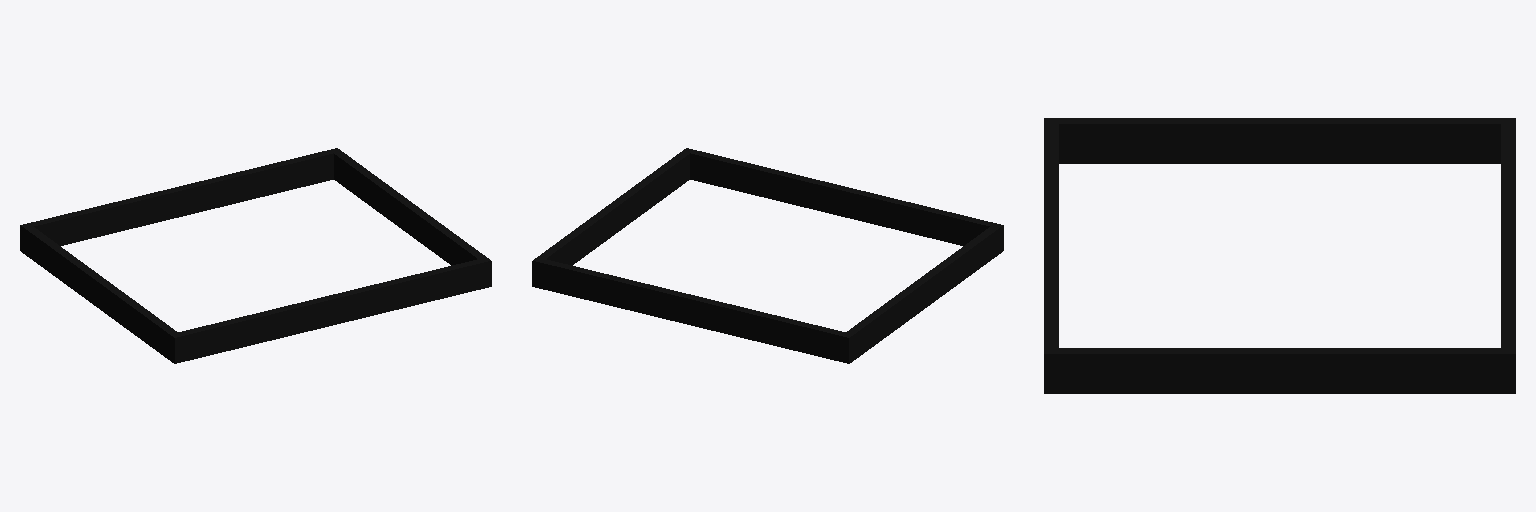
--- Facts derived from the render (not from the file) ---
Views: 3 orthographic renders of the robot side by side, from view 1: azimuth 30°, elevation 25°; view 2: azimuth 150°, elevation 25°; view 3: azimuth 270°, elevation 25°.
Robot: struct — 137 links, 136 joints (136 fixed); root link struct_base; default pose: every joint at zero.
Links seen in each view (by area): view 1: none; view 2: none; view 3: block_0_37, block_1_0, block_1_37, block_2_0, block_2_37, block_4_0, block_4_37, block_5_0, block_5_37, block_6_0, block_6_37, block_8_0 (+28 smaller).
Boxes of the visible links, <box> form: block_0_37: <box>1501,348,1515,393</box>; block_1_0: <box>1486,118,1500,163</box>; block_1_37: <box>1486,348,1500,393</box>; block_2_0: <box>1471,118,1485,163</box>; block_2_37: <box>1471,348,1485,393</box>; block_4_0: <box>1442,118,1456,163</box>; block_4_37: <box>1442,348,1456,393</box>; block_5_0: <box>1427,118,1441,163</box>; block_5_37: <box>1427,348,1441,393</box>; block_6_0: <box>1412,118,1426,163</box>; block_6_37: <box>1412,348,1426,393</box>; block_8_0: <box>1383,118,1397,163</box>.
Size in the robot's own frame: 38 by 32 by 3 metres.
Geometry: primitives only (box / cylinder / sphere), no mesh files.

robot.urdf — struct:
<?xml version="1.0" ?>
<robot name="struct">
  <link name="struct_base"/>

  <link name="block_0_0">
    <visual>
      <origin xyz="0 0 0"/>
      <geometry>
        <box size="1.0 1.0 3"/>
      </geometry>
      <material name="wall">
        <color rgba="0.1 0.1 0.1 1"/>
      </material>
    </visual>
    <inertial>
      <mass value="0"/> <!-- static -->
      <inertia ixx="0" iyy="0" izz="0" ixy="0" ixz="0" iyz="0"/>
    </inertial>

    <collision>
      <origin xyz="0 0 0"/>
      <geometry>
        <box size="1.0 1.0 3.0"/>
      </geometry>
    </collision>
</link>

  <joint name="joint_block_0_0" type="fixed">
    <parent link="struct_base"/>
    <child link="block_0_0"/>
    <origin xyz="-18.5 15.5 1.5" rpy="0 0 0"/>
  </joint>


  <link name="block_0_1">
    <visual>
      <origin xyz="0 0 0"/>
      <geometry>
        <box size="1.0 1.0 3"/>
      </geometry>
      <material name="wall">
        <color rgba="0.1 0.1 0.1 1"/>
      </material>
    </visual>
    <inertial>
      <mass value="0"/> <!-- static -->
      <inertia ixx="0" iyy="0" izz="0" ixy="0" ixz="0" iyz="0"/>
    </inertial>

    <collision>
      <origin xyz="0 0 0"/>
      <geometry>
        <box size="1.0 1.0 3.0"/>
      </geometry>
    </collision>
</link>

  <joint name="joint_block_0_1" type="fixed">
    <parent link="struct_base"/>
    <child link="block_0_1"/>
    <origin xyz="-17.5 15.5 1.5" rpy="0 0 0"/>
  </joint>


  <link name="block_0_2">
    <visual>
      <origin xyz="0 0 0"/>
      <geometry>
        <box size="1.0 1.0 3"/>
      </geometry>
      <material name="wall">
        <color rgba="0.1 0.1 0.1 1"/>
      </material>
    </visual>
    <inertial>
      <mass value="0"/> <!-- static -->
      <inertia ixx="0" iyy="0" izz="0" ixy="0" ixz="0" iyz="0"/>
    </inertial>

    <collision>
      <origin xyz="0 0 0"/>
      <geometry>
        <box size="1.0 1.0 3.0"/>
      </geometry>
    </collision>
</link>

  <joint name="joint_block_0_2" type="fixed">
    <parent link="struct_base"/>
    <child link="block_0_2"/>
    <origin xyz="-16.5 15.5 1.5" rpy="0 0 0"/>
  </joint>


  <link name="block_0_3">
    <visual>
      <origin xyz="0 0 0"/>
      <geometry>
        <box size="1.0 1.0 3"/>
      </geometry>
      <material name="wall">
        <color rgba="0.1 0.1 0.1 1"/>
      </material>
    </visual>
    <inertial>
      <mass value="0"/> <!-- static -->
      <inertia ixx="0" iyy="0" izz="0" ixy="0" ixz="0" iyz="0"/>
    </inertial>

    <collision>
      <origin xyz="0 0 0"/>
      <geometry>
        <box size="1.0 1.0 3.0"/>
      </geometry>
    </collision>
</link>

  <joint name="joint_block_0_3" type="fixed">
    <parent link="struct_base"/>
    <child link="block_0_3"/>
    <origin xyz="-15.5 15.5 1.5" rpy="0 0 0"/>
  </joint>


  <link name="block_0_4">
    <visual>
      <origin xyz="0 0 0"/>
      <geometry>
        <box size="1.0 1.0 3"/>
      </geometry>
      <material name="wall">
        <color rgba="0.1 0.1 0.1 1"/>
      </material>
    </visual>
    <inertial>
      <mass value="0"/> <!-- static -->
      <inertia ixx="0" iyy="0" izz="0" ixy="0" ixz="0" iyz="0"/>
    </inertial>

    <collision>
      <origin xyz="0 0 0"/>
      <geometry>
        <box size="1.0 1.0 3.0"/>
      </geometry>
    </collision>
</link>

  <joint name="joint_block_0_4" type="fixed">
    <parent link="struct_base"/>
    <child link="block_0_4"/>
    <origin xyz="-14.5 15.5 1.5" rpy="0 0 0"/>
  </joint>


  <link name="block_0_5">
    <visual>
      <origin xyz="0 0 0"/>
      <geometry>
        <box size="1.0 1.0 3"/>
      </geometry>
      <material name="wall">
        <color rgba="0.1 0.1 0.1 1"/>
      </material>
    </visual>
    <inertial>
      <mass value="0"/> <!-- static -->
      <inertia ixx="0" iyy="0" izz="0" ixy="0" ixz="0" iyz="0"/>
    </inertial>

    <collision>
      <origin xyz="0 0 0"/>
      <geometry>
        <box size="1.0 1.0 3.0"/>
      </geometry>
    </collision>
</link>

  <joint name="joint_block_0_5" type="fixed">
    <parent link="struct_base"/>
    <child link="block_0_5"/>
    <origin xyz="-13.5 15.5 1.5" rpy="0 0 0"/>
  </joint>


  <link name="block_0_6">
    <visual>
      <origin xyz="0 0 0"/>
      <geometry>
        <box size="1.0 1.0 3"/>
      </geometry>
      <material name="wall">
        <color rgba="0.1 0.1 0.1 1"/>
      </material>
    </visual>
    <inertial>
      <mass value="0"/> <!-- static -->
      <inertia ixx="0" iyy="0" izz="0" ixy="0" ixz="0" iyz="0"/>
    </inertial>

    <collision>
      <origin xyz="0 0 0"/>
      <geometry>
        <box size="1.0 1.0 3.0"/>
      </geometry>
    </collision>
</link>

  <joint name="joint_block_0_6" type="fixed">
    <parent link="struct_base"/>
    <child link="block_0_6"/>
    <origin xyz="-12.5 15.5 1.5" rpy="0 0 0"/>
  </joint>


  <link name="block_0_7">
    <visual>
      <origin xyz="0 0 0"/>
      <geometry>
        <box size="1.0 1.0 3"/>
      </geometry>
      <material name="wall">
        <color rgba="0.1 0.1 0.1 1"/>
      </material>
    </visual>
    <inertial>
      <mass value="0"/> <!-- static -->
      <inertia ixx="0" iyy="0" izz="0" ixy="0" ixz="0" iyz="0"/>
    </inertial>

    <collision>
      <origin xyz="0 0 0"/>
      <geometry>
        <box size="1.0 1.0 3.0"/>
      </geometry>
    </collision>
</link>

  <joint name="joint_block_0_7" type="fixed">
    <parent link="struct_base"/>
    <child link="block_0_7"/>
    <origin xyz="-11.5 15.5 1.5" rpy="0 0 0"/>
  </joint>


  <link name="block_0_8">
    <visual>
      <origin xyz="0 0 0"/>
      <geometry>
        <box size="1.0 1.0 3"/>
      </geometry>
      <material name="wall">
        <color rgba="0.1 0.1 0.1 1"/>
      </material>
    </visual>
    <inertial>
      <mass value="0"/> <!-- static -->
      <inertia ixx="0" iyy="0" izz="0" ixy="0" ixz="0" iyz="0"/>
    </inertial>

    <collision>
      <origin xyz="0 0 0"/>
      <geometry>
        <box size="1.0 1.0 3.0"/>
      </geometry>
    </collision>
</link>

  <joint name="joint_block_0_8" type="fixed">
    <parent link="struct_base"/>
    <child link="block_0_8"/>
    <origin xyz="-10.5 15.5 1.5" rpy="0 0 0"/>
  </joint>


  <link name="block_0_9">
    <visual>
      <origin xyz="0 0 0"/>
      <geometry>
        <box size="1.0 1.0 3"/>
      </geometry>
      <material name="wall">
        <color rgba="0.1 0.1 0.1 1"/>
      </material>
    </visual>
    <inertial>
      <mass value="0"/> <!-- static -->
      <inertia ixx="0" iyy="0" izz="0" ixy="0" ixz="0" iyz="0"/>
    </inertial>

    <collision>
      <origin xyz="0 0 0"/>
      <geometry>
        <box size="1.0 1.0 3.0"/>
      </geometry>
    </collision>
</link>

  <joint name="joint_block_0_9" type="fixed">
    <parent link="struct_base"/>
    <child link="block_0_9"/>
    <origin xyz="-9.5 15.5 1.5" rpy="0 0 0"/>
  </joint>


  <link name="block_0_10">
    <visual>
      <origin xyz="0 0 0"/>
      <geometry>
        <box size="1.0 1.0 3"/>
      </geometry>
      <material name="wall">
        <color rgba="0.1 0.1 0.1 1"/>
      </material>
    </visual>
    <inertial>
      <mass value="0"/> <!-- static -->
      <inertia ixx="0" iyy="0" izz="0" ixy="0" ixz="0" iyz="0"/>
    </inertial>

    <collision>
      <origin xyz="0 0 0"/>
      <geometry>
        <box size="1.0 1.0 3.0"/>
      </geometry>
    </collision>
</link>

  <joint name="joint_block_0_10" type="fixed">
    <parent link="struct_base"/>
    <child link="block_0_10"/>
    <origin xyz="-8.5 15.5 1.5" rpy="0 0 0"/>
  </joint>


  <link name="block_0_11">
    <visual>
      <origin xyz="0 0 0"/>
      <geometry>
        <box size="1.0 1.0 3"/>
      </geometry>
      <material name="wall">
        <color rgba="0.1 0.1 0.1 1"/>
      </material>
    </visual>
    <inertial>
      <mass value="0"/> <!-- static -->
      <inertia ixx="0" iyy="0" izz="0" ixy="0" ixz="0" iyz="0"/>
    </inertial>

    <collision>
      <origin xyz="0 0 0"/>
      <geometry>
        <box size="1.0 1.0 3.0"/>
      </geometry>
    </collision>
</link>

  <joint name="joint_block_0_11" type="fixed">
    <parent link="struct_base"/>
    <child link="block_0_11"/>
    <origin xyz="-7.5 15.5 1.5" rpy="0 0 0"/>
  </joint>


  <link name="block_0_12">
    <visual>
      <origin xyz="0 0 0"/>
      <geometry>
        <box size="1.0 1.0 3"/>
      </geometry>
      <material name="wall">
        <color rgba="0.1 0.1 0.1 1"/>
      </material>
    </visual>
    <inertial>
      <mass value="0"/> <!-- static -->
      <inertia ixx="0" iyy="0" izz="0" ixy="0" ixz="0" iyz="0"/>
    </inertial>

    <collision>
      <origin xyz="0 0 0"/>
      <geometry>
        <box size="1.0 1.0 3.0"/>
      </geometry>
    </collision>
</link>

  <joint name="joint_block_0_12" type="fixed">
    <parent link="struct_base"/>
    <child link="block_0_12"/>
    <origin xyz="-6.5 15.5 1.5" rpy="0 0 0"/>
  </joint>


  <link name="block_0_13">
    <visual>
      <origin xyz="0 0 0"/>
      <geometry>
        <box size="1.0 1.0 3"/>
      </geometry>
      <material name="wall">
        <color rgba="0.1 0.1 0.1 1"/>
      </material>
    </visual>
    <inertial>
      <mass value="0"/> <!-- static -->
      <inertia ixx="0" iyy="0" izz="0" ixy="0" ixz="0" iyz="0"/>
    </inertial>

    <collision>
      <origin xyz="0 0 0"/>
      <geometry>
        <box size="1.0 1.0 3.0"/>
      </geometry>
    </collision>
</link>

  <joint name="joint_block_0_13" type="fixed">
    <parent link="struct_base"/>
    <child link="block_0_13"/>
    <origin xyz="-5.5 15.5 1.5" rpy="0 0 0"/>
  </joint>


  <link name="block_0_14">
    <visual>
      <origin xyz="0 0 0"/>
      <geometry>
        <box size="1.0 1.0 3"/>
      </geometry>
      <material name="wall">
        <color rgba="0.1 0.1 0.1 1"/>
      </material>
    </visual>
    <inertial>
      <mass value="0"/> <!-- static -->
      <inertia ixx="0" iyy="0" izz="0" ixy="0" ixz="0" iyz="0"/>
    </inertial>

    <collision>
      <origin xyz="0 0 0"/>
      <geometry>
        <box size="1.0 1.0 3.0"/>
      </geometry>
    </collision>
</link>

  <joint name="joint_block_0_14" type="fixed">
    <parent link="struct_base"/>
    <child link="block_0_14"/>
    <origin xyz="-4.5 15.5 1.5" rpy="0 0 0"/>
  </joint>


  <link name="block_0_15">
    <visual>
      <origin xyz="0 0 0"/>
      <geometry>
        <box size="1.0 1.0 3"/>
      </geometry>
      <material name="wall">
        <color rgba="0.1 0.1 0.1 1"/>
      </material>
    </visual>
    <inertial>
      <mass value="0"/> <!-- static -->
      <inertia ixx="0" iyy="0" izz="0" ixy="0" ixz="0" iyz="0"/>
    </inertial>

    <collision>
      <origin xyz="0 0 0"/>
      <geometry>
        <box size="1.0 1.0 3.0"/>
      </geometry>
    </collision>
</link>

  <joint name="joint_block_0_15" type="fixed">
    <parent link="struct_base"/>
    <child link="block_0_15"/>
    <origin xyz="-3.5 15.5 1.5" rpy="0 0 0"/>
  </joint>


  <link name="block_0_16">
    <visual>
      <origin xyz="0 0 0"/>
      <geometry>
        <box size="1.0 1.0 3"/>
      </geometry>
      <material name="wall">
        <color rgba="0.1 0.1 0.1 1"/>
      </material>
    </visual>
    <inertial>
      <mass value="0"/> <!-- static -->
      <inertia ixx="0" iyy="0" izz="0" ixy="0" ixz="0" iyz="0"/>
    </inertial>

    <collision>
      <origin xyz="0 0 0"/>
      <geometry>
        <box size="1.0 1.0 3.0"/>
      </geometry>
    </collision>
</link>

  <joint name="joint_block_0_16" type="fixed">
    <parent link="struct_base"/>
    <child link="block_0_16"/>
    <origin xyz="-2.5 15.5 1.5" rpy="0 0 0"/>
  </joint>


  <link name="block_0_17">
    <visual>
      <origin xyz="0 0 0"/>
      <geometry>
        <box size="1.0 1.0 3"/>
      </geometry>
      <material name="wall">
        <color rgba="0.1 0.1 0.1 1"/>
      </material>
    </visual>
    <inertial>
      <mass value="0"/> <!-- static -->
      <inertia ixx="0" iyy="0" izz="0" ixy="0" ixz="0" iyz="0"/>
    </inertial>

    <collision>
      <origin xyz="0 0 0"/>
      <geometry>
        <box size="1.0 1.0 3.0"/>
      </geometry>
    </collision>
</link>

  <joint name="joint_block_0_17" type="fixed">
    <parent link="struct_base"/>
    <child link="block_0_17"/>
    <origin xyz="-1.5 15.5 1.5" rpy="0 0 0"/>
  </joint>


  <link name="block_0_18">
    <visual>
      <origin xyz="0 0 0"/>
      <geometry>
        <box size="1.0 1.0 3"/>
      </geometry>
      <material name="wall">
        <color rgba="0.1 0.1 0.1 1"/>
      </material>
    </visual>
    <inertial>
      <mass value="0"/> <!-- static -->
      <inertia ixx="0" iyy="0" izz="0" ixy="0" ixz="0" iyz="0"/>
    </inertial>

    <collision>
      <origin xyz="0 0 0"/>
      <geometry>
        <box size="1.0 1.0 3.0"/>
      </geometry>
    </collision>
</link>

  <joint name="joint_block_0_18" type="fixed">
    <parent link="struct_base"/>
    <child link="block_0_18"/>
    <origin xyz="-0.5 15.5 1.5" rpy="0 0 0"/>
  </joint>


  <link name="block_0_19">
    <visual>
      <origin xyz="0 0 0"/>
      <geometry>
        <box size="1.0 1.0 3"/>
      </geometry>
      <material name="wall">
        <color rgba="0.1 0.1 0.1 1"/>
      </material>
    </visual>
    <inertial>
      <mass value="0"/> <!-- static -->
      <inertia ixx="0" iyy="0" izz="0" ixy="0" ixz="0" iyz="0"/>
    </inertial>

    <collision>
      <origin xyz="0 0 0"/>
      <geometry>
        <box size="1.0 1.0 3.0"/>
      </geometry>
    </collision>
</link>

  <joint name="joint_block_0_19" type="fixed">
    <parent link="struct_base"/>
    <child link="block_0_19"/>
    <origin xyz="0.5 15.5 1.5" rpy="0 0 0"/>
  </joint>


  <link name="block_0_20">
    <visual>
      <origin xyz="0 0 0"/>
      <geometry>
        <box size="1.0 1.0 3"/>
      </geometry>
      <material name="wall">
        <color rgba="0.1 0.1 0.1 1"/>
      </material>
    </visual>
    <inertial>
      <mass value="0"/> <!-- static -->
      <inertia ixx="0" iyy="0" izz="0" ixy="0" ixz="0" iyz="0"/>
    </inertial>

    <collision>
      <origin xyz="0 0 0"/>
      <geometry>
        <box size="1.0 1.0 3.0"/>
      </geometry>
    </collision>
</link>

  <joint name="joint_block_0_20" type="fixed">
    <parent link="struct_base"/>
    <child link="block_0_20"/>
    <origin xyz="1.5 15.5 1.5" rpy="0 0 0"/>
  </joint>


  <link name="block_0_21">
    <visual>
      <origin xyz="0 0 0"/>
      <geometry>
        <box size="1.0 1.0 3"/>
      </geometry>
      <material name="wall">
        <color rgba="0.1 0.1 0.1 1"/>
      </material>
    </visual>
    <inertial>
      <mass value="0"/> <!-- static -->
      <inertia ixx="0" iyy="0" izz="0" ixy="0" ixz="0" iyz="0"/>
    </inertial>

    <collision>
      <origin xyz="0 0 0"/>
      <geometry>
        <box size="1.0 1.0 3.0"/>
      </geometry>
    </collision>
</link>

  <joint name="joint_block_0_21" type="fixed">
    <parent link="struct_base"/>
    <child link="block_0_21"/>
    <origin xyz="2.5 15.5 1.5" rpy="0 0 0"/>
  </joint>


  <link name="block_0_22">
    <visual>
      <origin xyz="0 0 0"/>
      <geometry>
        <box size="1.0 1.0 3"/>
      </geometry>
      <material name="wall">
        <color rgba="0.1 0.1 0.1 1"/>
      </material>
    </visual>
    <inertial>
      <mass value="0"/> <!-- static -->
      <inertia ixx="0" iyy="0" izz="0" ixy="0" ixz="0" iyz="0"/>
    </inertial>

    <collision>
      <origin xyz="0 0 0"/>
      <geometry>
        <box size="1.0 1.0 3.0"/>
      </geometry>
    </collision>
</link>

  <joint name="joint_block_0_22" type="fixed">
    <parent link="struct_base"/>
    <child link="block_0_22"/>
    <origin xyz="3.5 15.5 1.5" rpy="0 0 0"/>
  </joint>


  <link name="block_0_23">
    <visual>
      <origin xyz="0 0 0"/>
      <geometry>
        <box size="1.0 1.0 3"/>
      </geometry>
      <material name="wall">
        <color rgba="0.1 0.1 0.1 1"/>
      </material>
    </visual>
    <inertial>
      <mass value="0"/> <!-- static -->
      <inertia ixx="0" iyy="0" izz="0" ixy="0" ixz="0" iyz="0"/>
    </inertial>

    <collision>
      <origin xyz="0 0 0"/>
      <geometry>
        <box size="1.0 1.0 3.0"/>
      </geometry>
    </collision>
</link>

  <joint name="joint_block_0_23" type="fixed">
    <parent link="struct_base"/>
    <child link="block_0_23"/>
    <origin xyz="4.5 15.5 1.5" rpy="0 0 0"/>
  </joint>


  <link name="block_0_24">
    <visual>
      <origin xyz="0 0 0"/>
      <geometry>
        <box size="1.0 1.0 3"/>
      </geometry>
      <material name="wall">
        <color rgba="0.1 0.1 0.1 1"/>
      </material>
    </visual>
    <inertial>
      <mass value="0"/> <!-- static -->
      <inertia ixx="0" iyy="0" izz="0" ixy="0" ixz="0" iyz="0"/>
    </inertial>

    <collision>
      <origin xyz="0 0 0"/>
      <geometry>
        <box size="1.0 1.0 3.0"/>
      </geometry>
    </collision>
</link>

  <joint name="joint_block_0_24" type="fixed">
    <parent link="struct_base"/>
    <child link="block_0_24"/>
    <origin xyz="5.5 15.5 1.5" rpy="0 0 0"/>
  </joint>


  <link name="block_0_25">
    <visual>
      <origin xyz="0 0 0"/>
      <geometry>
        <box size="1.0 1.0 3"/>
      </geometry>
      <material name="wall">
        <color rgba="0.1 0.1 0.1 1"/>
      </material>
    </visual>
    <inertial>
      <mass value="0"/> <!-- static -->
      <inertia ixx="0" iyy="0" izz="0" ixy="0" ixz="0" iyz="0"/>
    </inertial>

    <collision>
      <origin xyz="0 0 0"/>
      <geometry>
        <box size="1.0 1.0 3.0"/>
      </geometry>
    </collision>
</link>

  <joint name="joint_block_0_25" type="fixed">
    <parent link="struct_base"/>
    <child link="block_0_25"/>
    <origin xyz="6.5 15.5 1.5" rpy="0 0 0"/>
  </joint>


  <link name="block_0_26">
    <visual>
      <origin xyz="0 0 0"/>
      <geometry>
        <box size="1.0 1.0 3"/>
      </geometry>
      <material name="wall">
        <color rgba="0.1 0.1 0.1 1"/>
      </material>
    </visual>
    <inertial>
      <mass value="0"/> <!-- static -->
      <inertia ixx="0" iyy="0" izz="0" ixy="0" ixz="0" iyz="0"/>
    </inertial>

    <collision>
      <origin xyz="0 0 0"/>
      <geometry>
        <box size="1.0 1.0 3.0"/>
      </geometry>
    </collision>
</link>

  <joint name="joint_block_0_26" type="fixed">
    <parent link="struct_base"/>
    <child link="block_0_26"/>
    <origin xyz="7.5 15.5 1.5" rpy="0 0 0"/>
  </joint>


  <link name="block_0_27">
    <visual>
      <origin xyz="0 0 0"/>
      <geometry>
        <box size="1.0 1.0 3"/>
      </geometry>
      <material name="wall">
        <color rgba="0.1 0.1 0.1 1"/>
      </material>
    </visual>
    <inertial>
      <mass value="0"/> <!-- static -->
      <inertia ixx="0" iyy="0" izz="0" ixy="0" ixz="0" iyz="0"/>
    </inertial>

    <collision>
      <origin xyz="0 0 0"/>
      <geometry>
        <box size="1.0 1.0 3.0"/>
      </geometry>
    </collision>
</link>

  <joint name="joint_block_0_27" type="fixed">
    <parent link="struct_base"/>
    <child link="block_0_27"/>
    <origin xyz="8.5 15.5 1.5" rpy="0 0 0"/>
  </joint>


  <link name="block_0_28">
    <visual>
      <origin xyz="0 0 0"/>
      <geometry>
        <box size="1.0 1.0 3"/>
      </geometry>
      <material name="wall">
        <color rgba="0.1 0.1 0.1 1"/>
      </material>
    </visual>
    <inertial>
      <mass value="0"/> <!-- static -->
      <inertia ixx="0" iyy="0" izz="0" ixy="0" ixz="0" iyz="0"/>
    </inertial>

    <collision>
      <origin xyz="0 0 0"/>
      <geometry>
        <box size="1.0 1.0 3.0"/>
      </geometry>
    </collision>
</link>

  <joint name="joint_block_0_28" type="fixed">
    <parent link="struct_base"/>
    <child link="block_0_28"/>
    <origin xyz="9.5 15.5 1.5" rpy="0 0 0"/>
  </joint>


  <link name="block_0_29">
    <visual>
      <origin xyz="0 0 0"/>
      <geometry>
        <box size="1.0 1.0 3"/>
      </geometry>
      <material name="wall">
        <color rgba="0.1 0.1 0.1 1"/>
      </material>
    </visual>
    <inertial>
      <mass value="0"/> <!-- static -->
      <inertia ixx="0" iyy="0" izz="0" ixy="0" ixz="0" iyz="0"/>
    </inertial>

    <collision>
      <origin xyz="0 0 0"/>
      <geometry>
        <box size="1.0 1.0 3.0"/>
      </geometry>
    </collision>
</link>

  <joint name="joint_block_0_29" type="fixed">
    <parent link="struct_base"/>
    <child link="block_0_29"/>
    <origin xyz="10.5 15.5 1.5" rpy="0 0 0"/>
  </joint>


  <link name="block_0_30">
    <visual>
      <origin xyz="0 0 0"/>
      <geometry>
        <box size="1.0 1.0 3"/>
      </geometry>
      <material name="wall">
        <color rgba="0.1 0.1 0.1 1"/>
      </material>
    </visual>
    <inertial>
      <mass value="0"/> <!-- static -->
      <inertia ixx="0" iyy="0" izz="0" ixy="0" ixz="0" iyz="0"/>
    </inertial>

    <collision>
      <origin xyz="0 0 0"/>
      <geometry>
        <box size="1.0 1.0 3.0"/>
      </geometry>
    </collision>
</link>

  <joint name="joint_block_0_30" type="fixed">
    <parent link="struct_base"/>
    <child link="block_0_30"/>
    <origin xyz="11.5 15.5 1.5" rpy="0 0 0"/>
  </joint>


  <link name="block_0_31">
    <visual>
      <origin xyz="0 0 0"/>
      <geometry>
        <box size="1.0 1.0 3"/>
      </geometry>
      <material name="wall">
        <color rgba="0.1 0.1 0.1 1"/>
      </material>
    </visual>
    <inertial>
      <mass value="0"/> <!-- static -->
      <inertia ixx="0" iyy="0" izz="0" ixy="0" ixz="0" iyz="0"/>
    </inertial>

    <collision>
      <origin xyz="0 0 0"/>
      <geometry>
        <box size="1.0 1.0 3.0"/>
      </geometry>
    </collision>
</link>

  <joint name="joint_block_0_31" type="fixed">
    <parent link="struct_base"/>
    <child link="block_0_31"/>
    <origin xyz="12.5 15.5 1.5" rpy="0 0 0"/>
  </joint>


  <link name="block_0_32">
    <visual>
      <origin xyz="0 0 0"/>
      <geometry>
        <box size="1.0 1.0 3"/>
      </geometry>
      <material name="wall">
        <color rgba="0.1 0.1 0.1 1"/>
      </material>
    </visual>
    <inertial>
      <mass value="0"/> <!-- static -->
      <inertia ixx="0" iyy="0" izz="0" ixy="0" ixz="0" iyz="0"/>
    </inertial>

    <collision>
      <origin xyz="0 0 0"/>
      <geometry>
        <box size="1.0 1.0 3.0"/>
      </geometry>
    </collision>
</link>

  <joint name="joint_block_0_32" type="fixed">
    <parent link="struct_base"/>
    <child link="block_0_32"/>
    <origin xyz="13.5 15.5 1.5" rpy="0 0 0"/>
  </joint>


  <link name="block_0_33">
    <visual>
      <origin xyz="0 0 0"/>
      <geometry>
        <box size="1.0 1.0 3"/>
      </geometry>
      <material name="wall">
        <color rgba="0.1 0.1 0.1 1"/>
      </material>
    </visual>
    <inertial>
      <mass value="0"/> <!-- static -->
      <inertia ixx="0" iyy="0" izz="0" ixy="0" ixz="0" iyz="0"/>
    </inertial>

    <collision>
      <origin xyz="0 0 0"/>
      <geometry>
        <box size="1.0 1.0 3.0"/>
      </geometry>
    </collision>
</link>

  <joint name="joint_block_0_33" type="fixed">
    <parent link="struct_base"/>
    <child link="block_0_33"/>
    <origin xyz="14.5 15.5 1.5" rpy="0 0 0"/>
  </joint>


  <link name="block_0_34">
    <visual>
      <origin xyz="0 0 0"/>
      <geometry>
        <box size="1.0 1.0 3"/>
      </geometry>
      <material name="wall">
        <color rgba="0.1 0.1 0.1 1"/>
      </material>
    </visual>
    <inertial>
      <mass value="0"/> <!-- static -->
      <inertia ixx="0" iyy="0" izz="0" ixy="0" ixz="0" iyz="0"/>
    </inertial>

    <collision>
      <origin xyz="0 0 0"/>
      <geometry>
        <box size="1.0 1.0 3.0"/>
      </geometry>
    </collision>
</link>

  <joint name="joint_block_0_34" type="fixed">
    <parent link="struct_base"/>
    <child link="block_0_34"/>
    <origin xyz="15.5 15.5 1.5" rpy="0 0 0"/>
  </joint>


  <link name="block_0_35">
    <visual>
      <origin xyz="0 0 0"/>
      <geometry>
        <box size="1.0 1.0 3"/>
      </geometry>
      <material name="wall">
        <color rgba="0.1 0.1 0.1 1"/>
      </material>
    </visual>
    <inertial>
      <mass value="0"/> <!-- static -->
      <inertia ixx="0" iyy="0" izz="0" ixy="0" ixz="0" iyz="0"/>
    </inertial>

    <collision>
      <origin xyz="0 0 0"/>
      <geometry>
        <box size="1.0 1.0 3.0"/>
      </geometry>
    </collision>
</link>

  <joint name="joint_block_0_35" type="fixed">
    <parent link="struct_base"/>
    <child link="block_0_35"/>
    <origin xyz="16.5 15.5 1.5" rpy="0 0 0"/>
  </joint>


  <link name="block_0_36">
    <visual>
      <origin xyz="0 0 0"/>
      <geometry>
        <box size="1.0 1.0 3"/>
      </geometry>
      <material name="wall">
        <color rgba="0.1 0.1 0.1 1"/>
      </material>
    </visual>
    <inertial>
      <mass value="0"/> <!-- static -->
      <inertia ixx="0" iyy="0" izz="0" ixy="0" ixz="0" iyz="0"/>
    </inertial>

    <collision>
      <origin xyz="0 0 0"/>
      <geometry>
        <box size="1.0 1.0 3.0"/>
      </geometry>
    </collision>
</link>

  <joint name="joint_block_0_36" type="fixed">
    <parent link="struct_base"/>
    <child link="block_0_36"/>
    <origin xyz="17.5 15.5 1.5" rpy="0 0 0"/>
  </joint>


  <link name="block_0_37">
    <visual>
      <origin xyz="0 0 0"/>
      <geometry>
        <box size="1.0 1.0 3"/>
      </geometry>
      <material name="wall">
        <color rgba="0.1 0.1 0.1 1"/>
      </material>
    </visual>
    <inertial>
      <mass value="0"/> <!-- static -->
      <inertia ixx="0" iyy="0" izz="0" ixy="0" ixz="0" iyz="0"/>
    </inertial>

    <collision>
      <origin xyz="0 0 0"/>
      <geometry>
        <box size="1.0 1.0 3.0"/>
      </geometry>
    </collision>
</link>

  <joint name="joint_block_0_37" type="fixed">
    <parent link="struct_base"/>
    <child link="block_0_37"/>
    <origin xyz="18.5 15.5 1.5" rpy="0 0 0"/>
  </joint>


  <link name="block_1_0">
    <visual>
      <origin xyz="0 0 0"/>
      <geometry>
        <box size="1.0 1.0 3"/>
      </geometry>
      <material name="wall">
        <color rgba="0.1 0.1 0.1 1"/>
      </material>
    </visual>
    <inertial>
      <mass value="0"/> <!-- static -->
      <inertia ixx="0" iyy="0" izz="0" ixy="0" ixz="0" iyz="0"/>
    </inertial>

    <collision>
      <origin xyz="0 0 0"/>
      <geometry>
        <box size="1.0 1.0 3.0"/>
      </geometry>
    </collision>
</link>

  <joint name="joint_block_1_0" type="fixed">
    <parent link="struct_base"/>
    <child link="block_1_0"/>
    <origin xyz="-18.5 14.5 1.5" rpy="0 0 0"/>
  </joint>


  <link name="block_1_37">
    <visual>
      <origin xyz="0 0 0"/>
      <geometry>
        <box size="1.0 1.0 3"/>
      </geometry>
      <material name="wall">
        <color rgba="0.1 0.1 0.1 1"/>
      </material>
    </visual>
    <inertial>
      <mass value="0"/> <!-- static -->
      <inertia ixx="0" iyy="0" izz="0" ixy="0" ixz="0" iyz="0"/>
    </inertial>

    <collision>
      <origin xyz="0 0 0"/>
      <geometry>
        <box size="1.0 1.0 3.0"/>
      </geometry>
    </collision>
</link>

  <joint name="joint_block_1_37" type="fixed">
    <parent link="struct_base"/>
    <child link="block_1_37"/>
    <origin xyz="18.5 14.5 1.5" rpy="0 0 0"/>
  </joint>


  <link name="block_2_0">
    <visual>
      <origin xyz="0 0 0"/>
      <geometry>
        <box size="1.0 1.0 3"/>
      </geometry>
      <material name="wall">
        <color rgba="0.1 0.1 0.1 1"/>
      </material>
    </visual>
    <inertial>
      <mass value="0"/> <!-- static -->
      <inertia ixx="0" iyy="0" izz="0" ixy="0" ixz="0" iyz="0"/>
    </inertial>

    <collision>
      <origin xyz="0 0 0"/>
      <geometry>
        <box size="1.0 1.0 3.0"/>
      </geometry>
    </collision>
</link>

  <joint name="joint_block_2_0" type="fixed">
    <parent link="struct_base"/>
    <child link="block_2_0"/>
    <origin xyz="-18.5 13.5 1.5" rpy="0 0 0"/>
  </joint>


  <link name="block_2_37">
    <visual>
      <origin xyz="0 0 0"/>
      <geometry>
        <box size="1.0 1.0 3"/>
      </geometry>
      <material name="wall">
        <color rgba="0.1 0.1 0.1 1"/>
      </material>
    </visual>
    <inertial>
      <mass value="0"/> <!-- static -->
      <inertia ixx="0" iyy="0" izz="0" ixy="0" ixz="0" iyz="0"/>
    </inertial>

    <collision>
      <origin xyz="0 0 0"/>
      <geometry>
        <box size="1.0 1.0 3.0"/>
      </geometry>
    </collision>
</link>

  <joint name="joint_block_2_37" type="fixed">
    <parent link="struct_base"/>
    <child link="block_2_37"/>
    <origin xyz="18.5 13.5 1.5" rpy="0 0 0"/>
  </joint>


  <link name="block_3_0">
    <visual>
      <origin xyz="0 0 0"/>
      <geometry>
        <box size="1.0 1.0 3"/>
      </geometry>
      <material name="wall">
        <color rgba="0.1 0.1 0.1 1"/>
      </material>
    </visual>
    <inertial>
      <mass value="0"/> <!-- static -->
      <inertia ixx="0" iyy="0" izz="0" ixy="0" ixz="0" iyz="0"/>
    </inertial>

    <collision>
      <origin xyz="0 0 0"/>
      <geometry>
        <box size="1.0 1.0 3.0"/>
      </geometry>
    </collision>
</link>

  <joint name="joint_block_3_0" type="fixed">
    <parent link="struct_base"/>
    <child link="block_3_0"/>
    <origin xyz="-18.5 12.5 1.5" rpy="0 0 0"/>
  </joint>


  <link name="block_3_37">
    <visual>
      <origin xyz="0 0 0"/>
      <geometry>
        <box size="1.0 1.0 3"/>
      </geometry>
      <material name="wall">
        <color rgba="0.1 0.1 0.1 1"/>
      </material>
    </visual>
    <inertial>
      <mass value="0"/> <!-- static -->
      <inertia ixx="0" iyy="0" izz="0" ixy="0" ixz="0" iyz="0"/>
    </inertial>

    <collision>
      <origin xyz="0 0 0"/>
      <geometry>
        <box size="1.0 1.0 3.0"/>
      </geometry>
    </collision>
</link>

  <joint name="joint_block_3_37" type="fixed">
    <parent link="struct_base"/>
    <child link="block_3_37"/>
    <origin xyz="18.5 12.5 1.5" rpy="0 0 0"/>
  </joint>


  <link name="block_4_0">
    <visual>
      <origin xyz="0 0 0"/>
      <geometry>
        <box size="1.0 1.0 3"/>
      </geometry>
      <material name="wall">
        <color rgba="0.1 0.1 0.1 1"/>
      </material>
    </visual>
    <inertial>
      <mass value="0"/> <!-- static -->
      <inertia ixx="0" iyy="0" izz="0" ixy="0" ixz="0" iyz="0"/>
    </inertial>

    <collision>
      <origin xyz="0 0 0"/>
      <geometry>
        <box size="1.0 1.0 3.0"/>
      </geometry>
    </collision>
</link>

  <joint name="joint_block_4_0" type="fixed">
    <parent link="struct_base"/>
    <child link="block_4_0"/>
    <origin xyz="-18.5 11.5 1.5" rpy="0 0 0"/>
  </joint>


  <link name="block_4_37">
    <visual>
      <origin xyz="0 0 0"/>
      <geometry>
        <box size="1.0 1.0 3"/>
      </geometry>
      <material name="wall">
        <color rgba="0.1 0.1 0.1 1"/>
      </material>
    </visual>
    <inertial>
      <mass value="0"/> <!-- static -->
      <inertia ixx="0" iyy="0" izz="0" ixy="0" ixz="0" iyz="0"/>
    </inertial>

    <collision>
      <origin xyz="0 0 0"/>
      <geometry>
        <box size="1.0 1.0 3.0"/>
      </geometry>
    </collision>
</link>

  <joint name="joint_block_4_37" type="fixed">
    <parent link="struct_base"/>
    <child link="block_4_37"/>
    <origin xyz="18.5 11.5 1.5" rpy="0 0 0"/>
  </joint>


  <link name="block_5_0">
    <visual>
      <origin xyz="0 0 0"/>
      <geometry>
        <box size="1.0 1.0 3"/>
      </geometry>
      <material name="wall">
        <color rgba="0.1 0.1 0.1 1"/>
      </material>
    </visual>
    <inertial>
      <mass value="0"/> <!-- static -->
      <inertia ixx="0" iyy="0" izz="0" ixy="0" ixz="0" iyz="0"/>
    </inertial>

    <collision>
      <origin xyz="0 0 0"/>
      <geometry>
        <box size="1.0 1.0 3.0"/>
      </geometry>
    </collision>
</link>

  <joint name="joint_block_5_0" type="fixed">
    <parent link="struct_base"/>
    <child link="block_5_0"/>
    <origin xyz="-18.5 10.5 1.5" rpy="0 0 0"/>
  </joint>


  <link name="block_5_37">
    <visual>
      <origin xyz="0 0 0"/>
      <geometry>
        <box size="1.0 1.0 3"/>
      </geometry>
      <material name="wall">
        <color rgba="0.1 0.1 0.1 1"/>
      </material>
    </visual>
    <inertial>
      <mass value="0"/> <!-- static -->
      <inertia ixx="0" iyy="0" izz="0" ixy="0" ixz="0" iyz="0"/>
    </inertial>

    <collision>
      <origin xyz="0 0 0"/>
      <geometry>
        <box size="1.0 1.0 3.0"/>
      </geometry>
    </collision>
</link>

  <joint name="joint_block_5_37" type="fixed">
    <parent link="struct_base"/>
    <child link="block_5_37"/>
    <origin xyz="18.5 10.5 1.5" rpy="0 0 0"/>
  </joint>


  <link name="block_6_0">
    <visual>
      <origin xyz="0 0 0"/>
      <geometry>
        <box size="1.0 1.0 3"/>
      </geometry>
      <material name="wall">
        <color rgba="0.1 0.1 0.1 1"/>
      </material>
    </visual>
    <inertial>
      <mass value="0"/> <!-- static -->
      <inertia ixx="0" iyy="0" izz="0" ixy="0" ixz="0" iyz="0"/>
    </inertial>

    <collision>
      <origin xyz="0 0 0"/>
      <geometry>
        <box size="1.0 1.0 3.0"/>
      </geometry>
    </collision>
</link>

  <joint name="joint_block_6_0" type="fixed">
    <parent link="struct_base"/>
    <child link="block_6_0"/>
    <origin xyz="-18.5 9.5 1.5" rpy="0 0 0"/>
  </joint>


  <link name="block_6_37">
    <visual>
      <origin xyz="0 0 0"/>
      <geometry>
        <box size="1.0 1.0 3"/>
      </geometry>
      <material name="wall">
        <color rgba="0.1 0.1 0.1 1"/>
      </material>
    </visual>
    <inertial>
      <mass value="0"/> <!-- static -->
      <inertia ixx="0" iyy="0" izz="0" ixy="0" ixz="0" iyz="0"/>
    </inertial>

    <collision>
      <origin xyz="0 0 0"/>
      <geometry>
        <box size="1.0 1.0 3.0"/>
      </geometry>
    </collision>
</link>

  <joint name="joint_block_6_37" type="fixed">
    <parent link="struct_base"/>
    <child link="block_6_37"/>
    <origin xyz="18.5 9.5 1.5" rpy="0 0 0"/>
  </joint>


  <link name="block_7_0">
    <visual>
      <origin xyz="0 0 0"/>
      <geometry>
        <box size="1.0 1.0 3"/>
      </geometry>
      <material name="wall">
        <color rgba="0.1 0.1 0.1 1"/>
      </material>
    </visual>
    <inertial>
      <mass value="0"/> <!-- static -->
      <inertia ixx="0" iyy="0" izz="0" ixy="0" ixz="0" iyz="0"/>
    </inertial>

    <collision>
      <origin xyz="0 0 0"/>
      <geometry>
        <box size="1.0 1.0 3.0"/>
      </geometry>
    </collision>
</link>

  <joint name="joint_block_7_0" type="fixed">
    <parent link="struct_base"/>
    <child link="block_7_0"/>
    <origin xyz="-18.5 8.5 1.5" rpy="0 0 0"/>
  </joint>


  <link name="block_7_37">
    <visual>
      <origin xyz="0 0 0"/>
      <geometry>
        <box size="1.0 1.0 3"/>
      </geometry>
      <material name="wall">
        <color rgba="0.1 0.1 0.1 1"/>
      </material>
    </visual>
    <inertial>
      <mass value="0"/> <!-- static -->
      <inertia ixx="0" iyy="0" izz="0" ixy="0" ixz="0" iyz="0"/>
    </inertial>

    <collision>
      <origin xyz="0 0 0"/>
      <geometry>
        <box size="1.0 1.0 3.0"/>
      </geometry>
    </collision>
</link>

  <joint name="joint_block_7_37" type="fixed">
    <parent link="struct_base"/>
    <child link="block_7_37"/>
    <origin xyz="18.5 8.5 1.5" rpy="0 0 0"/>
  </joint>


  <link name="block_8_0">
    <visual>
      <origin xyz="0 0 0"/>
      <geometry>
        <box size="1.0 1.0 3"/>
      </geometry>
      <material name="wall">
        <color rgba="0.1 0.1 0.1 1"/>
      </material>
    </visual>
    <inertial>
      <mass value="0"/> <!-- static -->
      <inertia ixx="0" iyy="0" izz="0" ixy="0" ixz="0" iyz="0"/>
    </inertial>

    <collision>
      <origin xyz="0 0 0"/>
      <geometry>
        <box size="1.0 1.0 3.0"/>
      </geometry>
    </collision>
</link>

  <joint name="joint_block_8_0" type="fixed">
    <parent link="struct_base"/>
    <child link="block_8_0"/>
    <origin xyz="-18.5 7.5 1.5" rpy="0 0 0"/>
  </joint>


  <link name="block_8_37">
    <visual>
      <origin xyz="0 0 0"/>
      <geometry>
        <box size="1.0 1.0 3"/>
      </geometry>
      <material name="wall">
        <color rgba="0.1 0.1 0.1 1"/>
      </material>
    </visual>
    <inertial>
      <mass value="0"/> <!-- static -->
      <inertia ixx="0" iyy="0" izz="0" ixy="0" ixz="0" iyz="0"/>
    </inertial>

    <collision>
      <origin xyz="0 0 0"/>
      <geometry>
        <box size="1.0 1.0 3.0"/>
      </geometry>
    </collision>
</link>

  <joint name="joint_block_8_37" type="fixed">
    <parent link="struct_base"/>
    <child link="block_8_37"/>
    <origin xyz="18.5 7.5 1.5" rpy="0 0 0"/>
  </joint>


  <link name="block_9_0">
    <visual>
      <origin xyz="0 0 0"/>
      <geometry>
        <box size="1.0 1.0 3"/>
      </geometry>
      <material name="wall">
        <color rgba="0.1 0.1 0.1 1"/>
      </material>
    </visual>
    <inertial>
      <mass value="0"/> <!-- static -->
      <inertia ixx="0" iyy="0" izz="0" ixy="0" ixz="0" iyz="0"/>
    </inertial>

    <collision>
      <origin xyz="0 0 0"/>
      <geometry>
        <box size="1.0 1.0 3.0"/>
      </geometry>
    </collision>
</link>

  <joint name="joint_block_9_0" type="fixed">
    <parent link="struct_base"/>
    <child link="block_9_0"/>
    <origin xyz="-18.5 6.5 1.5" rpy="0 0 0"/>
  </joint>


  <link name="block_9_37">
    <visual>
      <origin xyz="0 0 0"/>
      <geometry>
        <box size="1.0 1.0 3"/>
      </geometry>
      <material name="wall">
        <color rgba="0.1 0.1 0.1 1"/>
      </material>
    </visual>
    <inertial>
      <mass value="0"/> <!-- static -->
      <inertia ixx="0" iyy="0" izz="0" ixy="0" ixz="0" iyz="0"/>
    </inertial>

    <collision>
      <origin xyz="0 0 0"/>
      <geometry>
        <box size="1.0 1.0 3.0"/>
      </geometry>
    </collision>
</link>

  <joint name="joint_block_9_37" type="fixed">
    <parent link="struct_base"/>
    <child link="block_9_37"/>
    <origin xyz="18.5 6.5 1.5" rpy="0 0 0"/>
  </joint>


  <link name="block_10_0">
    <visual>
      <origin xyz="0 0 0"/>
      <geometry>
        <box size="1.0 1.0 3"/>
      </geometry>
      <material name="wall">
        <color rgba="0.1 0.1 0.1 1"/>
      </material>
    </visual>
    <inertial>
      <mass value="0"/> <!-- static -->
      <inertia ixx="0" iyy="0" izz="0" ixy="0" ixz="0" iyz="0"/>
    </inertial>

    <collision>
      <origin xyz="0 0 0"/>
      <geometry>
        <box size="1.0 1.0 3.0"/>
      </geometry>
    </collision>
</link>

  <joint name="joint_block_10_0" type="fixed">
    <parent link="struct_base"/>
    <child link="block_10_0"/>
    <origin xyz="-18.5 5.5 1.5" rpy="0 0 0"/>
  </joint>


  <link name="block_10_37">
    <visual>
      <origin xyz="0 0 0"/>
      <geometry>
        <box size="1.0 1.0 3"/>
      </geometry>
      <material name="wall">
        <color rgba="0.1 0.1 0.1 1"/>
      </material>
    </visual>
    <inertial>
      <mass value="0"/> <!-- static -->
      <inertia ixx="0" iyy="0" izz="0" ixy="0" ixz="0" iyz="0"/>
    </inertial>

    <collision>
      <origin xyz="0 0 0"/>
      <geometry>
        <box size="1.0 1.0 3.0"/>
      </geometry>
    </collision>
</link>

  <joint name="joint_block_10_37" type="fixed">
    <parent link="struct_base"/>
    <child link="block_10_37"/>
    <origin xyz="18.5 5.5 1.5" rpy="0 0 0"/>
  </joint>


  <link name="block_11_0">
    <visual>
      <origin xyz="0 0 0"/>
      <geometry>
        <box size="1.0 1.0 3"/>
      </geometry>
      <material name="wall">
        <color rgba="0.1 0.1 0.1 1"/>
      </material>
    </visual>
    <inertial>
      <mass value="0"/> <!-- static -->
      <inertia ixx="0" iyy="0" izz="0" ixy="0" ixz="0" iyz="0"/>
    </inertial>

    <collision>
      <origin xyz="0 0 0"/>
      <geometry>
        <box size="1.0 1.0 3.0"/>
      </geometry>
    </collision>
</link>

  <joint name="joint_block_11_0" type="fixed">
    <parent link="struct_base"/>
    <child link="block_11_0"/>
    <origin xyz="-18.5 4.5 1.5" rpy="0 0 0"/>
  </joint>


  <link name="block_11_37">
    <visual>
      <origin xyz="0 0 0"/>
      <geometry>
        <box size="1.0 1.0 3"/>
      </geometry>
      <material name="wall">
        <color rgba="0.1 0.1 0.1 1"/>
      </material>
    </visual>
    <inertial>
      <mass value="0"/> <!-- static -->
      <inertia ixx="0" iyy="0" izz="0" ixy="0" ixz="0" iyz="0"/>
    </inertial>

    <collision>
      <origin xyz="0 0 0"/>
      <geometry>
        <box size="1.0 1.0 3.0"/>
      </geometry>
    </collision>
</link>

  <joint name="joint_block_11_37" type="fixed">
    <parent link="struct_base"/>
    <child link="block_11_37"/>
    <origin xyz="18.5 4.5 1.5" rpy="0 0 0"/>
  </joint>


  <link name="block_12_0">
    <visual>
      <origin xyz="0 0 0"/>
      <geometry>
        <box size="1.0 1.0 3"/>
      </geometry>
      <material name="wall">
        <color rgba="0.1 0.1 0.1 1"/>
      </material>
    </visual>
    <inertial>
      <mass value="0"/> <!-- static -->
      <inertia ixx="0" iyy="0" izz="0" ixy="0" ixz="0" iyz="0"/>
    </inertial>

    <collision>
      <origin xyz="0 0 0"/>
      <geometry>
        <box size="1.0 1.0 3.0"/>
      </geometry>
    </collision>
</link>

  <joint name="joint_block_12_0" type="fixed">
    <parent link="struct_base"/>
    <child link="block_12_0"/>
    <origin xyz="-18.5 3.5 1.5" rpy="0 0 0"/>
  </joint>


  <link name="block_12_37">
    <visual>
      <origin xyz="0 0 0"/>
      <geometry>
        <box size="1.0 1.0 3"/>
      </geometry>
      <material name="wall">
        <color rgba="0.1 0.1 0.1 1"/>
      </material>
    </visual>
    <inertial>
      <mass value="0"/> <!-- static -->
      <inertia ixx="0" iyy="0" izz="0" ixy="0" ixz="0" iyz="0"/>
    </inertial>

    <collision>
      <origin xyz="0 0 0"/>
      <geometry>
        <box size="1.0 1.0 3.0"/>
      </geometry>
    </collision>
</link>

  <joint name="joint_block_12_37" type="fixed">
    <parent link="struct_base"/>
    <child link="block_12_37"/>
    <origin xyz="18.5 3.5 1.5" rpy="0 0 0"/>
  </joint>


  <link name="block_13_0">
    <visual>
      <origin xyz="0 0 0"/>
      <geometry>
        <box size="1.0 1.0 3"/>
      </geometry>
      <material name="wall">
        <color rgba="0.1 0.1 0.1 1"/>
      </material>
    </visual>
    <inertial>
      <mass value="0"/> <!-- static -->
      <inertia ixx="0" iyy="0" izz="0" ixy="0" ixz="0" iyz="0"/>
    </inertial>

    <collision>
      <origin xyz="0 0 0"/>
      <geometry>
        <box size="1.0 1.0 3.0"/>
      </geometry>
    </collision>
</link>

  <joint name="joint_block_13_0" type="fixed">
    <parent link="struct_base"/>
    <child link="block_13_0"/>
    <origin xyz="-18.5 2.5 1.5" rpy="0 0 0"/>
  </joint>


  <link name="block_13_37">
    <visual>
      <origin xyz="0 0 0"/>
      <geometry>
        <box size="1.0 1.0 3"/>
      </geometry>
      <material name="wall">
        <color rgba="0.1 0.1 0.1 1"/>
      </material>
    </visual>
    <inertial>
      <mass value="0"/> <!-- static -->
      <inertia ixx="0" iyy="0" izz="0" ixy="0" ixz="0" iyz="0"/>
    </inertial>

    <collision>
      <origin xyz="0 0 0"/>
      <geometry>
        <box size="1.0 1.0 3.0"/>
      </geometry>
    </collision>
</link>

  <joint name="joint_block_13_37" type="fixed">
    <parent link="struct_base"/>
    <child link="block_13_37"/>
    <origin xyz="18.5 2.5 1.5" rpy="0 0 0"/>
  </joint>


  <link name="block_14_0">
    <visual>
      <origin xyz="0 0 0"/>
      <geometry>
        <box size="1.0 1.0 3"/>
      </geometry>
      <material name="wall">
        <color rgba="0.1 0.1 0.1 1"/>
      </material>
    </visual>
    <inertial>
      <mass value="0"/> <!-- static -->
      <inertia ixx="0" iyy="0" izz="0" ixy="0" ixz="0" iyz="0"/>
    </inertial>

    <collision>
      <origin xyz="0 0 0"/>
      <geometry>
        <box size="1.0 1.0 3.0"/>
      </geometry>
    </collision>
</link>

  <joint name="joint_block_14_0" type="fixed">
    <parent link="struct_base"/>
    <child link="block_14_0"/>
    <origin xyz="-18.5 1.5 1.5" rpy="0 0 0"/>
  </joint>


  <link name="block_14_37">
    <visual>
      <origin xyz="0 0 0"/>
      <geometry>
        <box size="1.0 1.0 3"/>
      </geometry>
      <material name="wall">
        <color rgba="0.1 0.1 0.1 1"/>
      </material>
    </visual>
    <inertial>
      <mass value="0"/> <!-- static -->
      <inertia ixx="0" iyy="0" izz="0" ixy="0" ixz="0" iyz="0"/>
    </inertial>

    <collision>
      <origin xyz="0 0 0"/>
      <geometry>
        <box size="1.0 1.0 3.0"/>
      </geometry>
    </collision>
</link>

  <joint name="joint_block_14_37" type="fixed">
    <parent link="struct_base"/>
    <child link="block_14_37"/>
    <origin xyz="18.5 1.5 1.5" rpy="0 0 0"/>
  </joint>


  <link name="block_15_0">
    <visual>
      <origin xyz="0 0 0"/>
      <geometry>
        <box size="1.0 1.0 3"/>
      </geometry>
      <material name="wall">
        <color rgba="0.1 0.1 0.1 1"/>
      </material>
    </visual>
    <inertial>
      <mass value="0"/> <!-- static -->
      <inertia ixx="0" iyy="0" izz="0" ixy="0" ixz="0" iyz="0"/>
    </inertial>

    <collision>
      <origin xyz="0 0 0"/>
      <geometry>
        <box size="1.0 1.0 3.0"/>
      </geometry>
    </collision>
</link>

  <joint name="joint_block_15_0" type="fixed">
    <parent link="struct_base"/>
    <child link="block_15_0"/>
    <origin xyz="-18.5 0.5 1.5" rpy="0 0 0"/>
  </joint>


  <link name="block_15_37">
    <visual>
      <origin xyz="0 0 0"/>
      <geometry>
        <box size="1.0 1.0 3"/>
      </geometry>
      <material name="wall">
        <color rgba="0.1 0.1 0.1 1"/>
      </material>
    </visual>
    <inertial>
      <mass value="0"/> <!-- static -->
      <inertia ixx="0" iyy="0" izz="0" ixy="0" ixz="0" iyz="0"/>
    </inertial>

    <collision>
      <origin xyz="0 0 0"/>
      <geometry>
        <box size="1.0 1.0 3.0"/>
      </geometry>
    </collision>
</link>

  <joint name="joint_block_15_37" type="fixed">
    <parent link="struct_base"/>
    <child link="block_15_37"/>
    <origin xyz="18.5 0.5 1.5" rpy="0 0 0"/>
  </joint>


  <link name="block_16_0">
    <visual>
      <origin xyz="0 0 0"/>
      <geometry>
        <box size="1.0 1.0 3"/>
      </geometry>
      <material name="wall">
        <color rgba="0.1 0.1 0.1 1"/>
      </material>
    </visual>
    <inertial>
      <mass value="0"/> <!-- static -->
      <inertia ixx="0" iyy="0" izz="0" ixy="0" ixz="0" iyz="0"/>
    </inertial>

    <collision>
      <origin xyz="0 0 0"/>
      <geometry>
        <box size="1.0 1.0 3.0"/>
      </geometry>
    </collision>
</link>

  <joint name="joint_block_16_0" type="fixed">
    <parent link="struct_base"/>
    <child link="block_16_0"/>
    <origin xyz="-18.5 -0.5 1.5" rpy="0 0 0"/>
  </joint>


  <link name="block_16_37">
    <visual>
      <origin xyz="0 0 0"/>
      <geometry>
        <box size="1.0 1.0 3"/>
      </geometry>
      <material name="wall">
        <color rgba="0.1 0.1 0.1 1"/>
      </material>
    </visual>
    <inertial>
      <mass value="0"/> <!-- static -->
      <inertia ixx="0" iyy="0" izz="0" ixy="0" ixz="0" iyz="0"/>
    </inertial>

    <collision>
      <origin xyz="0 0 0"/>
      <geometry>
        <box size="1.0 1.0 3.0"/>
      </geometry>
    </collision>
</link>

  <joint name="joint_block_16_37" type="fixed">
    <parent link="struct_base"/>
    <child link="block_16_37"/>
    <origin xyz="18.5 -0.5 1.5" rpy="0 0 0"/>
  </joint>


  <link name="block_17_0">
    <visual>
      <origin xyz="0 0 0"/>
      <geometry>
        <box size="1.0 1.0 3"/>
      </geometry>
      <material name="wall">
        <color rgba="0.1 0.1 0.1 1"/>
      </material>
    </visual>
    <inertial>
      <mass value="0"/> <!-- static -->
      <inertia ixx="0" iyy="0" izz="0" ixy="0" ixz="0" iyz="0"/>
    </inertial>

    <collision>
      <origin xyz="0 0 0"/>
      <geometry>
        <box size="1.0 1.0 3.0"/>
      </geometry>
    </collision>
</link>

  <joint name="joint_block_17_0" type="fixed">
    <parent link="struct_base"/>
    <child link="block_17_0"/>
    <origin xyz="-18.5 -1.5 1.5" rpy="0 0 0"/>
  </joint>


  <link name="block_17_37">
    <visual>
      <origin xyz="0 0 0"/>
      <geometry>
        <box size="1.0 1.0 3"/>
      </geometry>
      <material name="wall">
        <color rgba="0.1 0.1 0.1 1"/>
      </material>
    </visual>
    <inertial>
      <mass value="0"/> <!-- static -->
      <inertia ixx="0" iyy="0" izz="0" ixy="0" ixz="0" iyz="0"/>
    </inertial>

    <collision>
      <origin xyz="0 0 0"/>
      <geometry>
        <box size="1.0 1.0 3.0"/>
      </geometry>
    </collision>
</link>

  <joint name="joint_block_17_37" type="fixed">
    <parent link="struct_base"/>
    <child link="block_17_37"/>
    <origin xyz="18.5 -1.5 1.5" rpy="0 0 0"/>
  </joint>


  <link name="block_18_0">
    <visual>
      <origin xyz="0 0 0"/>
      <geometry>
        <box size="1.0 1.0 3"/>
      </geometry>
      <material name="wall">
        <color rgba="0.1 0.1 0.1 1"/>
      </material>
    </visual>
    <inertial>
      <mass value="0"/> <!-- static -->
      <inertia ixx="0" iyy="0" izz="0" ixy="0" ixz="0" iyz="0"/>
    </inertial>

    <collision>
      <origin xyz="0 0 0"/>
      <geometry>
        <box size="1.0 1.0 3.0"/>
      </geometry>
    </collision>
</link>

  <joint name="joint_block_18_0" type="fixed">
    <parent link="struct_base"/>
    <child link="block_18_0"/>
    <origin xyz="-18.5 -2.5 1.5" rpy="0 0 0"/>
  </joint>


  <link name="block_18_37">
    <visual>
      <origin xyz="0 0 0"/>
      <geometry>
        <box size="1.0 1.0 3"/>
      </geometry>
      <material name="wall">
        <color rgba="0.1 0.1 0.1 1"/>
      </material>
    </visual>
    <inertial>
      <mass value="0"/> <!-- static -->
      <inertia ixx="0" iyy="0" izz="0" ixy="0" ixz="0" iyz="0"/>
    </inertial>

    <collision>
      <origin xyz="0 0 0"/>
      <geometry>
        <box size="1.0 1.0 3.0"/>
      </geometry>
    </collision>
</link>

  <joint name="joint_block_18_37" type="fixed">
    <parent link="struct_base"/>
    <child link="block_18_37"/>
    <origin xyz="18.5 -2.5 1.5" rpy="0 0 0"/>
  </joint>


  <link name="block_19_0">
    <visual>
      <origin xyz="0 0 0"/>
      <geometry>
        <box size="1.0 1.0 3"/>
      </geometry>
      <material name="wall">
        <color rgba="0.1 0.1 0.1 1"/>
      </material>
    </visual>
    <inertial>
      <mass value="0"/> <!-- static -->
      <inertia ixx="0" iyy="0" izz="0" ixy="0" ixz="0" iyz="0"/>
    </inertial>

    <collision>
      <origin xyz="0 0 0"/>
      <geometry>
        <box size="1.0 1.0 3.0"/>
      </geometry>
    </collision>
</link>

  <joint name="joint_block_19_0" type="fixed">
    <parent link="struct_base"/>
    <child link="block_19_0"/>
    <origin xyz="-18.5 -3.5 1.5" rpy="0 0 0"/>
  </joint>


  <link name="block_19_37">
    <visual>
      <origin xyz="0 0 0"/>
      <geometry>
        <box size="1.0 1.0 3"/>
      </geometry>
      <material name="wall">
        <color rgba="0.1 0.1 0.1 1"/>
      </material>
    </visual>
    <inertial>
      <mass value="0"/> <!-- static -->
      <inertia ixx="0" iyy="0" izz="0" ixy="0" ixz="0" iyz="0"/>
    </inertial>

    <collision>
      <origin xyz="0 0 0"/>
      <geometry>
        <box size="1.0 1.0 3.0"/>
      </geometry>
    </collision>
</link>

  <joint name="joint_block_19_37" type="fixed">
    <parent link="struct_base"/>
    <child link="block_19_37"/>
    <origin xyz="18.5 -3.5 1.5" rpy="0 0 0"/>
  </joint>


  <link name="block_20_0">
    <visual>
      <origin xyz="0 0 0"/>
      <geometry>
        <box size="1.0 1.0 3"/>
      </geometry>
      <material name="wall">
        <color rgba="0.1 0.1 0.1 1"/>
      </material>
    </visual>
    <inertial>
      <mass value="0"/> <!-- static -->
      <inertia ixx="0" iyy="0" izz="0" ixy="0" ixz="0" iyz="0"/>
    </inertial>

    <collision>
      <origin xyz="0 0 0"/>
      <geometry>
        <box size="1.0 1.0 3.0"/>
      </geometry>
    </collision>
</link>

  <joint name="joint_block_20_0" type="fixed">
    <parent link="struct_base"/>
    <child link="block_20_0"/>
    <origin xyz="-18.5 -4.5 1.5" rpy="0 0 0"/>
  </joint>


  <link name="block_20_37">
    <visual>
      <origin xyz="0 0 0"/>
      <geometry>
        <box size="1.0 1.0 3"/>
      </geometry>
      <material name="wall">
        <color rgba="0.1 0.1 0.1 1"/>
      </material>
    </visual>
    <inertial>
      <mass value="0"/> <!-- static -->
      <inertia ixx="0" iyy="0" izz="0" ixy="0" ixz="0" iyz="0"/>
    </inertial>

    <collision>
      <origin xyz="0 0 0"/>
      <geometry>
        <box size="1.0 1.0 3.0"/>
      </geometry>
    </collision>
</link>

  <joint name="joint_block_20_37" type="fixed">
    <parent link="struct_base"/>
    <child link="block_20_37"/>
    <origin xyz="18.5 -4.5 1.5" rpy="0 0 0"/>
  </joint>


  <link name="block_21_0">
    <visual>
      <origin xyz="0 0 0"/>
      <geometry>
        <box size="1.0 1.0 3"/>
      </geometry>
      <material name="wall">
        <color rgba="0.1 0.1 0.1 1"/>
      </material>
    </visual>
    <inertial>
      <mass value="0"/> <!-- static -->
      <inertia ixx="0" iyy="0" izz="0" ixy="0" ixz="0" iyz="0"/>
    </inertial>

    <collision>
      <origin xyz="0 0 0"/>
      <geometry>
        <box size="1.0 1.0 3.0"/>
      </geometry>
    </collision>
</link>

  <joint name="joint_block_21_0" type="fixed">
    <parent link="struct_base"/>
    <child link="block_21_0"/>
    <origin xyz="-18.5 -5.5 1.5" rpy="0 0 0"/>
  </joint>


  <link name="block_21_37">
    <visual>
      <origin xyz="0 0 0"/>
      <geometry>
        <box size="1.0 1.0 3"/>
      </geometry>
      <material name="wall">
        <color rgba="0.1 0.1 0.1 1"/>
      </material>
    </visual>
    <inertial>
      <mass value="0"/> <!-- static -->
      <inertia ixx="0" iyy="0" izz="0" ixy="0" ixz="0" iyz="0"/>
    </inertial>

    <collision>
      <origin xyz="0 0 0"/>
      <geometry>
        <box size="1.0 1.0 3.0"/>
      </geometry>
    </collision>
</link>

  <joint name="joint_block_21_37" type="fixed">
    <parent link="struct_base"/>
    <child link="block_21_37"/>
    <origin xyz="18.5 -5.5 1.5" rpy="0 0 0"/>
  </joint>


  <link name="block_22_0">
    <visual>
      <origin xyz="0 0 0"/>
      <geometry>
        <box size="1.0 1.0 3"/>
      </geometry>
      <material name="wall">
        <color rgba="0.1 0.1 0.1 1"/>
      </material>
    </visual>
    <inertial>
      <mass value="0"/> <!-- static -->
      <inertia ixx="0" iyy="0" izz="0" ixy="0" ixz="0" iyz="0"/>
    </inertial>

    <collision>
      <origin xyz="0 0 0"/>
      <geometry>
        <box size="1.0 1.0 3.0"/>
      </geometry>
    </collision>
</link>

  <joint name="joint_block_22_0" type="fixed">
    <parent link="struct_base"/>
    <child link="block_22_0"/>
    <origin xyz="-18.5 -6.5 1.5" rpy="0 0 0"/>
  </joint>


  <link name="block_22_37">
    <visual>
      <origin xyz="0 0 0"/>
      <geometry>
        <box size="1.0 1.0 3"/>
      </geometry>
      <material name="wall">
        <color rgba="0.1 0.1 0.1 1"/>
      </material>
    </visual>
    <inertial>
      <mass value="0"/> <!-- static -->
      <inertia ixx="0" iyy="0" izz="0" ixy="0" ixz="0" iyz="0"/>
    </inertial>

    <collision>
      <origin xyz="0 0 0"/>
      <geometry>
        <box size="1.0 1.0 3.0"/>
      </geometry>
    </collision>
</link>

  <joint name="joint_block_22_37" type="fixed">
    <parent link="struct_base"/>
    <child link="block_22_37"/>
    <origin xyz="18.5 -6.5 1.5" rpy="0 0 0"/>
  </joint>


  <link name="block_23_0">
    <visual>
      <origin xyz="0 0 0"/>
      <geometry>
        <box size="1.0 1.0 3"/>
      </geometry>
      <material name="wall">
        <color rgba="0.1 0.1 0.1 1"/>
      </material>
    </visual>
    <inertial>
      <mass value="0"/> <!-- static -->
      <inertia ixx="0" iyy="0" izz="0" ixy="0" ixz="0" iyz="0"/>
    </inertial>

    <collision>
      <origin xyz="0 0 0"/>
      <geometry>
        <box size="1.0 1.0 3.0"/>
      </geometry>
    </collision>
</link>

  <joint name="joint_block_23_0" type="fixed">
    <parent link="struct_base"/>
    <child link="block_23_0"/>
    <origin xyz="-18.5 -7.5 1.5" rpy="0 0 0"/>
  </joint>


  <link name="block_23_37">
    <visual>
      <origin xyz="0 0 0"/>
      <geometry>
        <box size="1.0 1.0 3"/>
      </geometry>
      <material name="wall">
        <color rgba="0.1 0.1 0.1 1"/>
      </material>
    </visual>
    <inertial>
      <mass value="0"/> <!-- static -->
      <inertia ixx="0" iyy="0" izz="0" ixy="0" ixz="0" iyz="0"/>
    </inertial>

    <collision>
      <origin xyz="0 0 0"/>
      <geometry>
        <box size="1.0 1.0 3.0"/>
      </geometry>
    </collision>
</link>

  <joint name="joint_block_23_37" type="fixed">
    <parent link="struct_base"/>
    <child link="block_23_37"/>
    <origin xyz="18.5 -7.5 1.5" rpy="0 0 0"/>
  </joint>


  <link name="block_24_0">
    <visual>
      <origin xyz="0 0 0"/>
      <geometry>
        <box size="1.0 1.0 3"/>
      </geometry>
      <material name="wall">
        <color rgba="0.1 0.1 0.1 1"/>
      </material>
    </visual>
    <inertial>
      <mass value="0"/> <!-- static -->
      <inertia ixx="0" iyy="0" izz="0" ixy="0" ixz="0" iyz="0"/>
    </inertial>

    <collision>
      <origin xyz="0 0 0"/>
      <geometry>
        <box size="1.0 1.0 3.0"/>
      </geometry>
    </collision>
</link>

  <joint name="joint_block_24_0" type="fixed">
    <parent link="struct_base"/>
    <child link="block_24_0"/>
    <origin xyz="-18.5 -8.5 1.5" rpy="0 0 0"/>
  </joint>


  <link name="block_24_37">
    <visual>
      <origin xyz="0 0 0"/>
      <geometry>
        <box size="1.0 1.0 3"/>
      </geometry>
      <material name="wall">
        <color rgba="0.1 0.1 0.1 1"/>
      </material>
    </visual>
    <inertial>
      <mass value="0"/> <!-- static -->
      <inertia ixx="0" iyy="0" izz="0" ixy="0" ixz="0" iyz="0"/>
    </inertial>

    <collision>
      <origin xyz="0 0 0"/>
      <geometry>
        <box size="1.0 1.0 3.0"/>
      </geometry>
    </collision>
</link>

  <joint name="joint_block_24_37" type="fixed">
    <parent link="struct_base"/>
    <child link="block_24_37"/>
    <origin xyz="18.5 -8.5 1.5" rpy="0 0 0"/>
  </joint>


  <link name="block_25_0">
    <visual>
      <origin xyz="0 0 0"/>
      <geometry>
        <box size="1.0 1.0 3"/>
      </geometry>
      <material name="wall">
        <color rgba="0.1 0.1 0.1 1"/>
      </material>
    </visual>
    <inertial>
      <mass value="0"/> <!-- static -->
      <inertia ixx="0" iyy="0" izz="0" ixy="0" ixz="0" iyz="0"/>
    </inertial>

    <collision>
      <origin xyz="0 0 0"/>
      <geometry>
        <box size="1.0 1.0 3.0"/>
      </geometry>
    </collision>
</link>

  <joint name="joint_block_25_0" type="fixed">
    <parent link="struct_base"/>
    <child link="block_25_0"/>
    <origin xyz="-18.5 -9.5 1.5" rpy="0 0 0"/>
  </joint>


  <link name="block_25_37">
    <visual>
      <origin xyz="0 0 0"/>
      <geometry>
        <box size="1.0 1.0 3"/>
      </geometry>
      <material name="wall">
        <color rgba="0.1 0.1 0.1 1"/>
      </material>
    </visual>
    <inertial>
      <mass value="0"/> <!-- static -->
      <inertia ixx="0" iyy="0" izz="0" ixy="0" ixz="0" iyz="0"/>
    </inertial>

    <collision>
      <origin xyz="0 0 0"/>
      <geometry>
        <box size="1.0 1.0 3.0"/>
      </geometry>
    </collision>
</link>

  <joint name="joint_block_25_37" type="fixed">
    <parent link="struct_base"/>
    <child link="block_25_37"/>
    <origin xyz="18.5 -9.5 1.5" rpy="0 0 0"/>
  </joint>


  <link name="block_26_0">
    <visual>
      <origin xyz="0 0 0"/>
      <geometry>
        <box size="1.0 1.0 3"/>
      </geometry>
      <material name="wall">
        <color rgba="0.1 0.1 0.1 1"/>
      </material>
    </visual>
    <inertial>
      <mass value="0"/> <!-- static -->
      <inertia ixx="0" iyy="0" izz="0" ixy="0" ixz="0" iyz="0"/>
    </inertial>

    <collision>
      <origin xyz="0 0 0"/>
      <geometry>
        <box size="1.0 1.0 3.0"/>
      </geometry>
    </collision>
</link>

  <joint name="joint_block_26_0" type="fixed">
    <parent link="struct_base"/>
    <child link="block_26_0"/>
    <origin xyz="-18.5 -10.5 1.5" rpy="0 0 0"/>
  </joint>


  <link name="block_26_37">
    <visual>
      <origin xyz="0 0 0"/>
      <geometry>
        <box size="1.0 1.0 3"/>
      </geometry>
      <material name="wall">
        <color rgba="0.1 0.1 0.1 1"/>
      </material>
    </visual>
    <inertial>
      <mass value="0"/> <!-- static -->
      <inertia ixx="0" iyy="0" izz="0" ixy="0" ixz="0" iyz="0"/>
    </inertial>

    <collision>
      <origin xyz="0 0 0"/>
      <geometry>
        <box size="1.0 1.0 3.0"/>
      </geometry>
    </collision>
</link>

  <joint name="joint_block_26_37" type="fixed">
    <parent link="struct_base"/>
    <child link="block_26_37"/>
    <origin xyz="18.5 -10.5 1.5" rpy="0 0 0"/>
  </joint>


  <link name="block_27_0">
    <visual>
      <origin xyz="0 0 0"/>
      <geometry>
        <box size="1.0 1.0 3"/>
      </geometry>
      <material name="wall">
        <color rgba="0.1 0.1 0.1 1"/>
      </material>
    </visual>
    <inertial>
      <mass value="0"/> <!-- static -->
      <inertia ixx="0" iyy="0" izz="0" ixy="0" ixz="0" iyz="0"/>
    </inertial>

    <collision>
      <origin xyz="0 0 0"/>
      <geometry>
        <box size="1.0 1.0 3.0"/>
      </geometry>
    </collision>
</link>

  <joint name="joint_block_27_0" type="fixed">
    <parent link="struct_base"/>
    <child link="block_27_0"/>
    <origin xyz="-18.5 -11.5 1.5" rpy="0 0 0"/>
  </joint>


  <link name="block_27_37">
    <visual>
      <origin xyz="0 0 0"/>
      <geometry>
        <box size="1.0 1.0 3"/>
      </geometry>
      <material name="wall">
        <color rgba="0.1 0.1 0.1 1"/>
      </material>
    </visual>
    <inertial>
      <mass value="0"/> <!-- static -->
      <inertia ixx="0" iyy="0" izz="0" ixy="0" ixz="0" iyz="0"/>
    </inertial>

    <collision>
      <origin xyz="0 0 0"/>
      <geometry>
        <box size="1.0 1.0 3.0"/>
      </geometry>
    </collision>
</link>

  <joint name="joint_block_27_37" type="fixed">
    <parent link="struct_base"/>
    <child link="block_27_37"/>
    <origin xyz="18.5 -11.5 1.5" rpy="0 0 0"/>
  </joint>


  <link name="block_28_0">
    <visual>
      <origin xyz="0 0 0"/>
      <geometry>
        <box size="1.0 1.0 3"/>
      </geometry>
      <material name="wall">
        <color rgba="0.1 0.1 0.1 1"/>
      </material>
    </visual>
    <inertial>
      <mass value="0"/> <!-- static -->
      <inertia ixx="0" iyy="0" izz="0" ixy="0" ixz="0" iyz="0"/>
    </inertial>

    <collision>
      <origin xyz="0 0 0"/>
      <geometry>
        <box size="1.0 1.0 3.0"/>
      </geometry>
    </collision>
</link>

  <joint name="joint_block_28_0" type="fixed">
    <parent link="struct_base"/>
    <child link="block_28_0"/>
    <origin xyz="-18.5 -12.5 1.5" rpy="0 0 0"/>
  </joint>


  <link name="block_28_37">
    <visual>
      <origin xyz="0 0 0"/>
      <geometry>
        <box size="1.0 1.0 3"/>
      </geometry>
      <material name="wall">
        <color rgba="0.1 0.1 0.1 1"/>
      </material>
    </visual>
    <inertial>
      <mass value="0"/> <!-- static -->
      <inertia ixx="0" iyy="0" izz="0" ixy="0" ixz="0" iyz="0"/>
    </inertial>

    <collision>
      <origin xyz="0 0 0"/>
      <geometry>
        <box size="1.0 1.0 3.0"/>
      </geometry>
    </collision>
</link>

  <joint name="joint_block_28_37" type="fixed">
    <parent link="struct_base"/>
    <child link="block_28_37"/>
    <origin xyz="18.5 -12.5 1.5" rpy="0 0 0"/>
  </joint>


  <link name="block_29_0">
    <visual>
      <origin xyz="0 0 0"/>
      <geometry>
        <box size="1.0 1.0 3"/>
      </geometry>
      <material name="wall">
        <color rgba="0.1 0.1 0.1 1"/>
      </material>
    </visual>
    <inertial>
      <mass value="0"/> <!-- static -->
      <inertia ixx="0" iyy="0" izz="0" ixy="0" ixz="0" iyz="0"/>
    </inertial>

    <collision>
      <origin xyz="0 0 0"/>
      <geometry>
        <box size="1.0 1.0 3.0"/>
      </geometry>
    </collision>
</link>

  <joint name="joint_block_29_0" type="fixed">
    <parent link="struct_base"/>
    <child link="block_29_0"/>
    <origin xyz="-18.5 -13.5 1.5" rpy="0 0 0"/>
  </joint>


  <link name="block_29_37">
    <visual>
      <origin xyz="0 0 0"/>
      <geometry>
        <box size="1.0 1.0 3"/>
      </geometry>
      <material name="wall">
        <color rgba="0.1 0.1 0.1 1"/>
      </material>
    </visual>
    <inertial>
      <mass value="0"/> <!-- static -->
      <inertia ixx="0" iyy="0" izz="0" ixy="0" ixz="0" iyz="0"/>
    </inertial>

    <collision>
      <origin xyz="0 0 0"/>
      <geometry>
        <box size="1.0 1.0 3.0"/>
      </geometry>
    </collision>
</link>

  <joint name="joint_block_29_37" type="fixed">
    <parent link="struct_base"/>
    <child link="block_29_37"/>
    <origin xyz="18.5 -13.5 1.5" rpy="0 0 0"/>
  </joint>


  <link name="block_30_0">
    <visual>
      <origin xyz="0 0 0"/>
      <geometry>
        <box size="1.0 1.0 3"/>
      </geometry>
      <material name="wall">
        <color rgba="0.1 0.1 0.1 1"/>
      </material>
    </visual>
    <inertial>
      <mass value="0"/> <!-- static -->
      <inertia ixx="0" iyy="0" izz="0" ixy="0" ixz="0" iyz="0"/>
    </inertial>

    <collision>
      <origin xyz="0 0 0"/>
      <geometry>
        <box size="1.0 1.0 3.0"/>
      </geometry>
    </collision>
</link>

  <joint name="joint_block_30_0" type="fixed">
    <parent link="struct_base"/>
    <child link="block_30_0"/>
    <origin xyz="-18.5 -14.5 1.5" rpy="0 0 0"/>
  </joint>


  <link name="block_30_37">
    <visual>
      <origin xyz="0 0 0"/>
      <geometry>
        <box size="1.0 1.0 3"/>
      </geometry>
      <material name="wall">
        <color rgba="0.1 0.1 0.1 1"/>
      </material>
    </visual>
    <inertial>
      <mass value="0"/> <!-- static -->
      <inertia ixx="0" iyy="0" izz="0" ixy="0" ixz="0" iyz="0"/>
    </inertial>

    <collision>
      <origin xyz="0 0 0"/>
      <geometry>
        <box size="1.0 1.0 3.0"/>
      </geometry>
    </collision>
</link>

  <joint name="joint_block_30_37" type="fixed">
    <parent link="struct_base"/>
    <child link="block_30_37"/>
    <origin xyz="18.5 -14.5 1.5" rpy="0 0 0"/>
  </joint>


  <link name="block_31_0">
    <visual>
      <origin xyz="0 0 0"/>
      <geometry>
        <box size="1.0 1.0 3"/>
      </geometry>
      <material name="wall">
        <color rgba="0.1 0.1 0.1 1"/>
      </material>
    </visual>
    <inertial>
      <mass value="0"/> <!-- static -->
      <inertia ixx="0" iyy="0" izz="0" ixy="0" ixz="0" iyz="0"/>
    </inertial>

    <collision>
      <origin xyz="0 0 0"/>
      <geometry>
        <box size="1.0 1.0 3.0"/>
      </geometry>
    </collision>
</link>

  <joint name="joint_block_31_0" type="fixed">
    <parent link="struct_base"/>
    <child link="block_31_0"/>
    <origin xyz="-18.5 -15.5 1.5" rpy="0 0 0"/>
  </joint>


  <link name="block_31_1">
    <visual>
      <origin xyz="0 0 0"/>
      <geometry>
        <box size="1.0 1.0 3"/>
      </geometry>
      <material name="wall">
        <color rgba="0.1 0.1 0.1 1"/>
      </material>
    </visual>
    <inertial>
      <mass value="0"/> <!-- static -->
      <inertia ixx="0" iyy="0" izz="0" ixy="0" ixz="0" iyz="0"/>
    </inertial>

    <collision>
      <origin xyz="0 0 0"/>
      <geometry>
        <box size="1.0 1.0 3.0"/>
      </geometry>
    </collision>
</link>

  <joint name="joint_block_31_1" type="fixed">
    <parent link="struct_base"/>
    <child link="block_31_1"/>
    <origin xyz="-17.5 -15.5 1.5" rpy="0 0 0"/>
  </joint>


  <link name="block_31_2">
    <visual>
      <origin xyz="0 0 0"/>
      <geometry>
        <box size="1.0 1.0 3"/>
      </geometry>
      <material name="wall">
        <color rgba="0.1 0.1 0.1 1"/>
      </material>
    </visual>
    <inertial>
      <mass value="0"/> <!-- static -->
      <inertia ixx="0" iyy="0" izz="0" ixy="0" ixz="0" iyz="0"/>
    </inertial>

    <collision>
      <origin xyz="0 0 0"/>
      <geometry>
        <box size="1.0 1.0 3.0"/>
      </geometry>
    </collision>
</link>

  <joint name="joint_block_31_2" type="fixed">
    <parent link="struct_base"/>
    <child link="block_31_2"/>
    <origin xyz="-16.5 -15.5 1.5" rpy="0 0 0"/>
  </joint>


  <link name="block_31_3">
    <visual>
      <origin xyz="0 0 0"/>
      <geometry>
        <box size="1.0 1.0 3"/>
      </geometry>
      <material name="wall">
        <color rgba="0.1 0.1 0.1 1"/>
      </material>
    </visual>
    <inertial>
      <mass value="0"/> <!-- static -->
      <inertia ixx="0" iyy="0" izz="0" ixy="0" ixz="0" iyz="0"/>
    </inertial>

    <collision>
      <origin xyz="0 0 0"/>
      <geometry>
        <box size="1.0 1.0 3.0"/>
      </geometry>
    </collision>
</link>

  <joint name="joint_block_31_3" type="fixed">
    <parent link="struct_base"/>
    <child link="block_31_3"/>
    <origin xyz="-15.5 -15.5 1.5" rpy="0 0 0"/>
  </joint>


  <link name="block_31_4">
    <visual>
      <origin xyz="0 0 0"/>
      <geometry>
        <box size="1.0 1.0 3"/>
      </geometry>
      <material name="wall">
        <color rgba="0.1 0.1 0.1 1"/>
      </material>
    </visual>
    <inertial>
      <mass value="0"/> <!-- static -->
      <inertia ixx="0" iyy="0" izz="0" ixy="0" ixz="0" iyz="0"/>
    </inertial>

    <collision>
      <origin xyz="0 0 0"/>
      <geometry>
        <box size="1.0 1.0 3.0"/>
      </geometry>
    </collision>
</link>

  <joint name="joint_block_31_4" type="fixed">
    <parent link="struct_base"/>
    <child link="block_31_4"/>
    <origin xyz="-14.5 -15.5 1.5" rpy="0 0 0"/>
  </joint>


  <link name="block_31_5">
    <visual>
      <origin xyz="0 0 0"/>
      <geometry>
        <box size="1.0 1.0 3"/>
      </geometry>
      <material name="wall">
        <color rgba="0.1 0.1 0.1 1"/>
      </material>
    </visual>
    <inertial>
      <mass value="0"/> <!-- static -->
      <inertia ixx="0" iyy="0" izz="0" ixy="0" ixz="0" iyz="0"/>
    </inertial>

    <collision>
      <origin xyz="0 0 0"/>
      <geometry>
        <box size="1.0 1.0 3.0"/>
      </geometry>
    </collision>
</link>

  <joint name="joint_block_31_5" type="fixed">
    <parent link="struct_base"/>
    <child link="block_31_5"/>
    <origin xyz="-13.5 -15.5 1.5" rpy="0 0 0"/>
  </joint>


  <link name="block_31_6">
    <visual>
      <origin xyz="0 0 0"/>
      <geometry>
        <box size="1.0 1.0 3"/>
      </geometry>
      <material name="wall">
        <color rgba="0.1 0.1 0.1 1"/>
      </material>
    </visual>
    <inertial>
      <mass value="0"/> <!-- static -->
      <inertia ixx="0" iyy="0" izz="0" ixy="0" ixz="0" iyz="0"/>
    </inertial>

    <collision>
      <origin xyz="0 0 0"/>
      <geometry>
        <box size="1.0 1.0 3.0"/>
      </geometry>
    </collision>
</link>

  <joint name="joint_block_31_6" type="fixed">
    <parent link="struct_base"/>
    <child link="block_31_6"/>
    <origin xyz="-12.5 -15.5 1.5" rpy="0 0 0"/>
  </joint>


  <link name="block_31_7">
    <visual>
      <origin xyz="0 0 0"/>
      <geometry>
        <box size="1.0 1.0 3"/>
      </geometry>
      <material name="wall">
        <color rgba="0.1 0.1 0.1 1"/>
      </material>
    </visual>
    <inertial>
      <mass value="0"/> <!-- static -->
      <inertia ixx="0" iyy="0" izz="0" ixy="0" ixz="0" iyz="0"/>
    </inertial>

    <collision>
      <origin xyz="0 0 0"/>
      <geometry>
        <box size="1.0 1.0 3.0"/>
      </geometry>
    </collision>
</link>

  <joint name="joint_block_31_7" type="fixed">
    <parent link="struct_base"/>
    <child link="block_31_7"/>
    <origin xyz="-11.5 -15.5 1.5" rpy="0 0 0"/>
  </joint>


  <link name="block_31_8">
    <visual>
      <origin xyz="0 0 0"/>
      <geometry>
        <box size="1.0 1.0 3"/>
      </geometry>
      <material name="wall">
        <color rgba="0.1 0.1 0.1 1"/>
      </material>
    </visual>
    <inertial>
      <mass value="0"/> <!-- static -->
      <inertia ixx="0" iyy="0" izz="0" ixy="0" ixz="0" iyz="0"/>
    </inertial>

    <collision>
      <origin xyz="0 0 0"/>
      <geometry>
        <box size="1.0 1.0 3.0"/>
      </geometry>
    </collision>
</link>

  <joint name="joint_block_31_8" type="fixed">
    <parent link="struct_base"/>
    <child link="block_31_8"/>
    <origin xyz="-10.5 -15.5 1.5" rpy="0 0 0"/>
  </joint>


  <link name="block_31_9">
    <visual>
      <origin xyz="0 0 0"/>
      <geometry>
        <box size="1.0 1.0 3"/>
      </geometry>
      <material name="wall">
        <color rgba="0.1 0.1 0.1 1"/>
      </material>
    </visual>
    <inertial>
      <mass value="0"/> <!-- static -->
      <inertia ixx="0" iyy="0" izz="0" ixy="0" ixz="0" iyz="0"/>
    </inertial>

    <collision>
      <origin xyz="0 0 0"/>
      <geometry>
        <box size="1.0 1.0 3.0"/>
      </geometry>
    </collision>
</link>

  <joint name="joint_block_31_9" type="fixed">
    <parent link="struct_base"/>
    <child link="block_31_9"/>
    <origin xyz="-9.5 -15.5 1.5" rpy="0 0 0"/>
  </joint>


  <link name="block_31_10">
    <visual>
      <origin xyz="0 0 0"/>
      <geometry>
        <box size="1.0 1.0 3"/>
      </geometry>
      <material name="wall">
        <color rgba="0.1 0.1 0.1 1"/>
      </material>
    </visual>
    <inertial>
      <mass value="0"/> <!-- static -->
      <inertia ixx="0" iyy="0" izz="0" ixy="0" ixz="0" iyz="0"/>
    </inertial>

    <collision>
      <origin xyz="0 0 0"/>
      <geometry>
        <box size="1.0 1.0 3.0"/>
      </geometry>
    </collision>
</link>

  <joint name="joint_block_31_10" type="fixed">
    <parent link="struct_base"/>
    <child link="block_31_10"/>
    <origin xyz="-8.5 -15.5 1.5" rpy="0 0 0"/>
  </joint>


  <link name="block_31_11">
    <visual>
      <origin xyz="0 0 0"/>
      <geometry>
        <box size="1.0 1.0 3"/>
      </geometry>
      <material name="wall">
        <color rgba="0.1 0.1 0.1 1"/>
      </material>
    </visual>
    <inertial>
      <mass value="0"/> <!-- static -->
      <inertia ixx="0" iyy="0" izz="0" ixy="0" ixz="0" iyz="0"/>
    </inertial>

    <collision>
      <origin xyz="0 0 0"/>
      <geometry>
        <box size="1.0 1.0 3.0"/>
      </geometry>
    </collision>
</link>

  <joint name="joint_block_31_11" type="fixed">
    <parent link="struct_base"/>
    <child link="block_31_11"/>
    <origin xyz="-7.5 -15.5 1.5" rpy="0 0 0"/>
  </joint>


  <link name="block_31_12">
    <visual>
      <origin xyz="0 0 0"/>
      <geometry>
        <box size="1.0 1.0 3"/>
      </geometry>
      <material name="wall">
        <color rgba="0.1 0.1 0.1 1"/>
      </material>
    </visual>
    <inertial>
      <mass value="0"/> <!-- static -->
      <inertia ixx="0" iyy="0" izz="0" ixy="0" ixz="0" iyz="0"/>
    </inertial>

    <collision>
      <origin xyz="0 0 0"/>
      <geometry>
        <box size="1.0 1.0 3.0"/>
      </geometry>
    </collision>
</link>

  <joint name="joint_block_31_12" type="fixed">
    <parent link="struct_base"/>
    <child link="block_31_12"/>
    <origin xyz="-6.5 -15.5 1.5" rpy="0 0 0"/>
  </joint>


  <link name="block_31_13">
    <visual>
      <origin xyz="0 0 0"/>
      <geometry>
        <box size="1.0 1.0 3"/>
      </geometry>
      <material name="wall">
        <color rgba="0.1 0.1 0.1 1"/>
      </material>
    </visual>
    <inertial>
      <mass value="0"/> <!-- static -->
      <inertia ixx="0" iyy="0" izz="0" ixy="0" ixz="0" iyz="0"/>
    </inertial>

    <collision>
      <origin xyz="0 0 0"/>
      <geometry>
        <box size="1.0 1.0 3.0"/>
      </geometry>
    </collision>
</link>

  <joint name="joint_block_31_13" type="fixed">
    <parent link="struct_base"/>
    <child link="block_31_13"/>
    <origin xyz="-5.5 -15.5 1.5" rpy="0 0 0"/>
  </joint>


  <link name="block_31_14">
    <visual>
      <origin xyz="0 0 0"/>
      <geometry>
        <box size="1.0 1.0 3"/>
      </geometry>
      <material name="wall">
        <color rgba="0.1 0.1 0.1 1"/>
      </material>
    </visual>
    <inertial>
      <mass value="0"/> <!-- static -->
      <inertia ixx="0" iyy="0" izz="0" ixy="0" ixz="0" iyz="0"/>
    </inertial>

    <collision>
      <origin xyz="0 0 0"/>
      <geometry>
        <box size="1.0 1.0 3.0"/>
      </geometry>
    </collision>
</link>

  <joint name="joint_block_31_14" type="fixed">
    <parent link="struct_base"/>
    <child link="block_31_14"/>
    <origin xyz="-4.5 -15.5 1.5" rpy="0 0 0"/>
  </joint>


  <link name="block_31_15">
    <visual>
      <origin xyz="0 0 0"/>
      <geometry>
        <box size="1.0 1.0 3"/>
      </geometry>
      <material name="wall">
        <color rgba="0.1 0.1 0.1 1"/>
      </material>
    </visual>
    <inertial>
      <mass value="0"/> <!-- static -->
      <inertia ixx="0" iyy="0" izz="0" ixy="0" ixz="0" iyz="0"/>
    </inertial>

    <collision>
      <origin xyz="0 0 0"/>
      <geometry>
        <box size="1.0 1.0 3.0"/>
      </geometry>
    </collision>
</link>

  <joint name="joint_block_31_15" type="fixed">
    <parent link="struct_base"/>
    <child link="block_31_15"/>
    <origin xyz="-3.5 -15.5 1.5" rpy="0 0 0"/>
  </joint>


  <link name="block_31_16">
    <visual>
      <origin xyz="0 0 0"/>
      <geometry>
        <box size="1.0 1.0 3"/>
      </geometry>
      <material name="wall">
        <color rgba="0.1 0.1 0.1 1"/>
      </material>
    </visual>
    <inertial>
      <mass value="0"/> <!-- static -->
      <inertia ixx="0" iyy="0" izz="0" ixy="0" ixz="0" iyz="0"/>
    </inertial>

    <collision>
      <origin xyz="0 0 0"/>
      <geometry>
        <box size="1.0 1.0 3.0"/>
      </geometry>
    </collision>
</link>

  <joint name="joint_block_31_16" type="fixed">
    <parent link="struct_base"/>
    <child link="block_31_16"/>
    <origin xyz="-2.5 -15.5 1.5" rpy="0 0 0"/>
  </joint>


  <link name="block_31_17">
    <visual>
      <origin xyz="0 0 0"/>
      <geometry>
        <box size="1.0 1.0 3"/>
      </geometry>
      <material name="wall">
        <color rgba="0.1 0.1 0.1 1"/>
      </material>
    </visual>
    <inertial>
      <mass value="0"/> <!-- static -->
      <inertia ixx="0" iyy="0" izz="0" ixy="0" ixz="0" iyz="0"/>
    </inertial>

    <collision>
      <origin xyz="0 0 0"/>
      <geometry>
        <box size="1.0 1.0 3.0"/>
      </geometry>
    </collision>
</link>

  <joint name="joint_block_31_17" type="fixed">
    <parent link="struct_base"/>
    <child link="block_31_17"/>
    <origin xyz="-1.5 -15.5 1.5" rpy="0 0 0"/>
  </joint>


  <link name="block_31_18">
    <visual>
      <origin xyz="0 0 0"/>
      <geometry>
        <box size="1.0 1.0 3"/>
      </geometry>
      <material name="wall">
        <color rgba="0.1 0.1 0.1 1"/>
      </material>
    </visual>
    <inertial>
      <mass value="0"/> <!-- static -->
      <inertia ixx="0" iyy="0" izz="0" ixy="0" ixz="0" iyz="0"/>
    </inertial>

    <collision>
      <origin xyz="0 0 0"/>
      <geometry>
        <box size="1.0 1.0 3.0"/>
      </geometry>
    </collision>
</link>

  <joint name="joint_block_31_18" type="fixed">
    <parent link="struct_base"/>
    <child link="block_31_18"/>
    <origin xyz="-0.5 -15.5 1.5" rpy="0 0 0"/>
  </joint>


  <link name="block_31_19">
    <visual>
      <origin xyz="0 0 0"/>
      <geometry>
        <box size="1.0 1.0 3"/>
      </geometry>
      <material name="wall">
        <color rgba="0.1 0.1 0.1 1"/>
      </material>
    </visual>
    <inertial>
      <mass value="0"/> <!-- static -->
      <inertia ixx="0" iyy="0" izz="0" ixy="0" ixz="0" iyz="0"/>
    </inertial>

    <collision>
      <origin xyz="0 0 0"/>
      <geometry>
        <box size="1.0 1.0 3.0"/>
      </geometry>
    </collision>
</link>

  <joint name="joint_block_31_19" type="fixed">
    <parent link="struct_base"/>
    <child link="block_31_19"/>
    <origin xyz="0.5 -15.5 1.5" rpy="0 0 0"/>
  </joint>


  <link name="block_31_20">
    <visual>
      <origin xyz="0 0 0"/>
      <geometry>
        <box size="1.0 1.0 3"/>
      </geometry>
      <material name="wall">
        <color rgba="0.1 0.1 0.1 1"/>
      </material>
    </visual>
    <inertial>
      <mass value="0"/> <!-- static -->
      <inertia ixx="0" iyy="0" izz="0" ixy="0" ixz="0" iyz="0"/>
    </inertial>

    <collision>
      <origin xyz="0 0 0"/>
      <geometry>
        <box size="1.0 1.0 3.0"/>
      </geometry>
    </collision>
</link>

  <joint name="joint_block_31_20" type="fixed">
    <parent link="struct_base"/>
    <child link="block_31_20"/>
    <origin xyz="1.5 -15.5 1.5" rpy="0 0 0"/>
  </joint>


  <link name="block_31_21">
    <visual>
      <origin xyz="0 0 0"/>
      <geometry>
        <box size="1.0 1.0 3"/>
      </geometry>
      <material name="wall">
        <color rgba="0.1 0.1 0.1 1"/>
      </material>
    </visual>
    <inertial>
      <mass value="0"/> <!-- static -->
      <inertia ixx="0" iyy="0" izz="0" ixy="0" ixz="0" iyz="0"/>
    </inertial>

    <collision>
      <origin xyz="0 0 0"/>
      <geometry>
        <box size="1.0 1.0 3.0"/>
      </geometry>
    </collision>
</link>

  <joint name="joint_block_31_21" type="fixed">
    <parent link="struct_base"/>
    <child link="block_31_21"/>
    <origin xyz="2.5 -15.5 1.5" rpy="0 0 0"/>
  </joint>


  <link name="block_31_22">
    <visual>
      <origin xyz="0 0 0"/>
      <geometry>
        <box size="1.0 1.0 3"/>
      </geometry>
      <material name="wall">
        <color rgba="0.1 0.1 0.1 1"/>
      </material>
    </visual>
    <inertial>
      <mass value="0"/> <!-- static -->
      <inertia ixx="0" iyy="0" izz="0" ixy="0" ixz="0" iyz="0"/>
    </inertial>

    <collision>
      <origin xyz="0 0 0"/>
      <geometry>
        <box size="1.0 1.0 3.0"/>
      </geometry>
    </collision>
</link>

  <joint name="joint_block_31_22" type="fixed">
    <parent link="struct_base"/>
    <child link="block_31_22"/>
    <origin xyz="3.5 -15.5 1.5" rpy="0 0 0"/>
  </joint>


  <link name="block_31_23">
    <visual>
      <origin xyz="0 0 0"/>
      <geometry>
        <box size="1.0 1.0 3"/>
      </geometry>
      <material name="wall">
        <color rgba="0.1 0.1 0.1 1"/>
      </material>
    </visual>
    <inertial>
      <mass value="0"/> <!-- static -->
      <inertia ixx="0" iyy="0" izz="0" ixy="0" ixz="0" iyz="0"/>
    </inertial>

    <collision>
      <origin xyz="0 0 0"/>
      <geometry>
        <box size="1.0 1.0 3.0"/>
      </geometry>
    </collision>
</link>

  <joint name="joint_block_31_23" type="fixed">
    <parent link="struct_base"/>
    <child link="block_31_23"/>
    <origin xyz="4.5 -15.5 1.5" rpy="0 0 0"/>
  </joint>


  <link name="block_31_24">
    <visual>
      <origin xyz="0 0 0"/>
      <geometry>
        <box size="1.0 1.0 3"/>
      </geometry>
      <material name="wall">
        <color rgba="0.1 0.1 0.1 1"/>
      </material>
    </visual>
    <inertial>
      <mass value="0"/> <!-- static -->
      <inertia ixx="0" iyy="0" izz="0" ixy="0" ixz="0" iyz="0"/>
    </inertial>

    <collision>
      <origin xyz="0 0 0"/>
      <geometry>
        <box size="1.0 1.0 3.0"/>
      </geometry>
    </collision>
</link>

  <joint name="joint_block_31_24" type="fixed">
    <parent link="struct_base"/>
    <child link="block_31_24"/>
    <origin xyz="5.5 -15.5 1.5" rpy="0 0 0"/>
  </joint>


  <link name="block_31_25">
    <visual>
      <origin xyz="0 0 0"/>
      <geometry>
        <box size="1.0 1.0 3"/>
      </geometry>
      <material name="wall">
        <color rgba="0.1 0.1 0.1 1"/>
      </material>
    </visual>
    <inertial>
      <mass value="0"/> <!-- static -->
      <inertia ixx="0" iyy="0" izz="0" ixy="0" ixz="0" iyz="0"/>
    </inertial>

    <collision>
      <origin xyz="0 0 0"/>
      <geometry>
        <box size="1.0 1.0 3.0"/>
      </geometry>
    </collision>
</link>

  <joint name="joint_block_31_25" type="fixed">
    <parent link="struct_base"/>
    <child link="block_31_25"/>
    <origin xyz="6.5 -15.5 1.5" rpy="0 0 0"/>
  </joint>


  <link name="block_31_26">
    <visual>
      <origin xyz="0 0 0"/>
      <geometry>
        <box size="1.0 1.0 3"/>
      </geometry>
      <material name="wall">
        <color rgba="0.1 0.1 0.1 1"/>
      </material>
    </visual>
    <inertial>
      <mass value="0"/> <!-- static -->
      <inertia ixx="0" iyy="0" izz="0" ixy="0" ixz="0" iyz="0"/>
    </inertial>

    <collision>
      <origin xyz="0 0 0"/>
      <geometry>
        <box size="1.0 1.0 3.0"/>
      </geometry>
    </collision>
</link>

  <joint name="joint_block_31_26" type="fixed">
    <parent link="struct_base"/>
    <child link="block_31_26"/>
    <origin xyz="7.5 -15.5 1.5" rpy="0 0 0"/>
  </joint>


  <link name="block_31_27">
    <visual>
      <origin xyz="0 0 0"/>
      <geometry>
        <box size="1.0 1.0 3"/>
      </geometry>
      <material name="wall">
        <color rgba="0.1 0.1 0.1 1"/>
      </material>
    </visual>
    <inertial>
      <mass value="0"/> <!-- static -->
      <inertia ixx="0" iyy="0" izz="0" ixy="0" ixz="0" iyz="0"/>
    </inertial>

    <collision>
      <origin xyz="0 0 0"/>
      <geometry>
        <box size="1.0 1.0 3.0"/>
      </geometry>
    </collision>
</link>

  <joint name="joint_block_31_27" type="fixed">
    <parent link="struct_base"/>
    <child link="block_31_27"/>
    <origin xyz="8.5 -15.5 1.5" rpy="0 0 0"/>
  </joint>


  <link name="block_31_28">
    <visual>
      <origin xyz="0 0 0"/>
      <geometry>
        <box size="1.0 1.0 3"/>
      </geometry>
      <material name="wall">
        <color rgba="0.1 0.1 0.1 1"/>
      </material>
    </visual>
    <inertial>
      <mass value="0"/> <!-- static -->
      <inertia ixx="0" iyy="0" izz="0" ixy="0" ixz="0" iyz="0"/>
    </inertial>

    <collision>
      <origin xyz="0 0 0"/>
      <geometry>
        <box size="1.0 1.0 3.0"/>
      </geometry>
    </collision>
</link>

  <joint name="joint_block_31_28" type="fixed">
    <parent link="struct_base"/>
    <child link="block_31_28"/>
    <origin xyz="9.5 -15.5 1.5" rpy="0 0 0"/>
  </joint>


  <link name="block_31_29">
    <visual>
      <origin xyz="0 0 0"/>
      <geometry>
        <box size="1.0 1.0 3"/>
      </geometry>
      <material name="wall">
        <color rgba="0.1 0.1 0.1 1"/>
      </material>
    </visual>
    <inertial>
      <mass value="0"/> <!-- static -->
      <inertia ixx="0" iyy="0" izz="0" ixy="0" ixz="0" iyz="0"/>
    </inertial>

    <collision>
      <origin xyz="0 0 0"/>
      <geometry>
        <box size="1.0 1.0 3.0"/>
      </geometry>
    </collision>
</link>

  <joint name="joint_block_31_29" type="fixed">
    <parent link="struct_base"/>
    <child link="block_31_29"/>
    <origin xyz="10.5 -15.5 1.5" rpy="0 0 0"/>
  </joint>


  <link name="block_31_30">
    <visual>
      <origin xyz="0 0 0"/>
      <geometry>
        <box size="1.0 1.0 3"/>
      </geometry>
      <material name="wall">
        <color rgba="0.1 0.1 0.1 1"/>
      </material>
    </visual>
    <inertial>
      <mass value="0"/> <!-- static -->
      <inertia ixx="0" iyy="0" izz="0" ixy="0" ixz="0" iyz="0"/>
    </inertial>

    <collision>
      <origin xyz="0 0 0"/>
      <geometry>
        <box size="1.0 1.0 3.0"/>
      </geometry>
    </collision>
</link>

  <joint name="joint_block_31_30" type="fixed">
    <parent link="struct_base"/>
    <child link="block_31_30"/>
    <origin xyz="11.5 -15.5 1.5" rpy="0 0 0"/>
  </joint>


  <link name="block_31_31">
    <visual>
      <origin xyz="0 0 0"/>
      <geometry>
        <box size="1.0 1.0 3"/>
      </geometry>
      <material name="wall">
        <color rgba="0.1 0.1 0.1 1"/>
      </material>
    </visual>
    <inertial>
      <mass value="0"/> <!-- static -->
      <inertia ixx="0" iyy="0" izz="0" ixy="0" ixz="0" iyz="0"/>
    </inertial>

    <collision>
      <origin xyz="0 0 0"/>
      <geometry>
        <box size="1.0 1.0 3.0"/>
      </geometry>
    </collision>
</link>

  <joint name="joint_block_31_31" type="fixed">
    <parent link="struct_base"/>
    <child link="block_31_31"/>
    <origin xyz="12.5 -15.5 1.5" rpy="0 0 0"/>
  </joint>


  <link name="block_31_32">
    <visual>
      <origin xyz="0 0 0"/>
      <geometry>
        <box size="1.0 1.0 3"/>
      </geometry>
      <material name="wall">
        <color rgba="0.1 0.1 0.1 1"/>
      </material>
    </visual>
    <inertial>
      <mass value="0"/> <!-- static -->
      <inertia ixx="0" iyy="0" izz="0" ixy="0" ixz="0" iyz="0"/>
    </inertial>

    <collision>
      <origin xyz="0 0 0"/>
      <geometry>
        <box size="1.0 1.0 3.0"/>
      </geometry>
    </collision>
</link>

  <joint name="joint_block_31_32" type="fixed">
    <parent link="struct_base"/>
    <child link="block_31_32"/>
    <origin xyz="13.5 -15.5 1.5" rpy="0 0 0"/>
  </joint>


  <link name="block_31_33">
    <visual>
      <origin xyz="0 0 0"/>
      <geometry>
        <box size="1.0 1.0 3"/>
      </geometry>
      <material name="wall">
        <color rgba="0.1 0.1 0.1 1"/>
      </material>
    </visual>
    <inertial>
      <mass value="0"/> <!-- static -->
      <inertia ixx="0" iyy="0" izz="0" ixy="0" ixz="0" iyz="0"/>
    </inertial>

    <collision>
      <origin xyz="0 0 0"/>
      <geometry>
        <box size="1.0 1.0 3.0"/>
      </geometry>
    </collision>
</link>

  <joint name="joint_block_31_33" type="fixed">
    <parent link="struct_base"/>
    <child link="block_31_33"/>
    <origin xyz="14.5 -15.5 1.5" rpy="0 0 0"/>
  </joint>


  <link name="block_31_34">
    <visual>
      <origin xyz="0 0 0"/>
      <geometry>
        <box size="1.0 1.0 3"/>
      </geometry>
      <material name="wall">
        <color rgba="0.1 0.1 0.1 1"/>
      </material>
    </visual>
    <inertial>
      <mass value="0"/> <!-- static -->
      <inertia ixx="0" iyy="0" izz="0" ixy="0" ixz="0" iyz="0"/>
    </inertial>

    <collision>
      <origin xyz="0 0 0"/>
      <geometry>
        <box size="1.0 1.0 3.0"/>
      </geometry>
    </collision>
</link>

  <joint name="joint_block_31_34" type="fixed">
    <parent link="struct_base"/>
    <child link="block_31_34"/>
    <origin xyz="15.5 -15.5 1.5" rpy="0 0 0"/>
  </joint>


  <link name="block_31_35">
    <visual>
      <origin xyz="0 0 0"/>
      <geometry>
        <box size="1.0 1.0 3"/>
      </geometry>
      <material name="wall">
        <color rgba="0.1 0.1 0.1 1"/>
      </material>
    </visual>
    <inertial>
      <mass value="0"/> <!-- static -->
      <inertia ixx="0" iyy="0" izz="0" ixy="0" ixz="0" iyz="0"/>
    </inertial>

    <collision>
      <origin xyz="0 0 0"/>
      <geometry>
        <box size="1.0 1.0 3.0"/>
      </geometry>
    </collision>
</link>

  <joint name="joint_block_31_35" type="fixed">
    <parent link="struct_base"/>
    <child link="block_31_35"/>
    <origin xyz="16.5 -15.5 1.5" rpy="0 0 0"/>
  </joint>


  <link name="block_31_36">
    <visual>
      <origin xyz="0 0 0"/>
      <geometry>
        <box size="1.0 1.0 3"/>
      </geometry>
      <material name="wall">
        <color rgba="0.1 0.1 0.1 1"/>
      </material>
    </visual>
    <inertial>
      <mass value="0"/> <!-- static -->
      <inertia ixx="0" iyy="0" izz="0" ixy="0" ixz="0" iyz="0"/>
    </inertial>

    <collision>
      <origin xyz="0 0 0"/>
      <geometry>
        <box size="1.0 1.0 3.0"/>
      </geometry>
    </collision>
</link>

  <joint name="joint_block_31_36" type="fixed">
    <parent link="struct_base"/>
    <child link="block_31_36"/>
    <origin xyz="17.5 -15.5 1.5" rpy="0 0 0"/>
  </joint>


  <link name="block_31_37">
    <visual>
      <origin xyz="0 0 0"/>
      <geometry>
        <box size="1.0 1.0 3"/>
      </geometry>
      <material name="wall">
        <color rgba="0.1 0.1 0.1 1"/>
      </material>
    </visual>
    <inertial>
      <mass value="0"/> <!-- static -->
      <inertia ixx="0" iyy="0" izz="0" ixy="0" ixz="0" iyz="0"/>
    </inertial>

    <collision>
      <origin xyz="0 0 0"/>
      <geometry>
        <box size="1.0 1.0 3.0"/>
      </geometry>
    </collision>
</link>

  <joint name="joint_block_31_37" type="fixed">
    <parent link="struct_base"/>
    <child link="block_31_37"/>
    <origin xyz="18.5 -15.5 1.5" rpy="0 0 0"/>
  </joint>

</robot>
